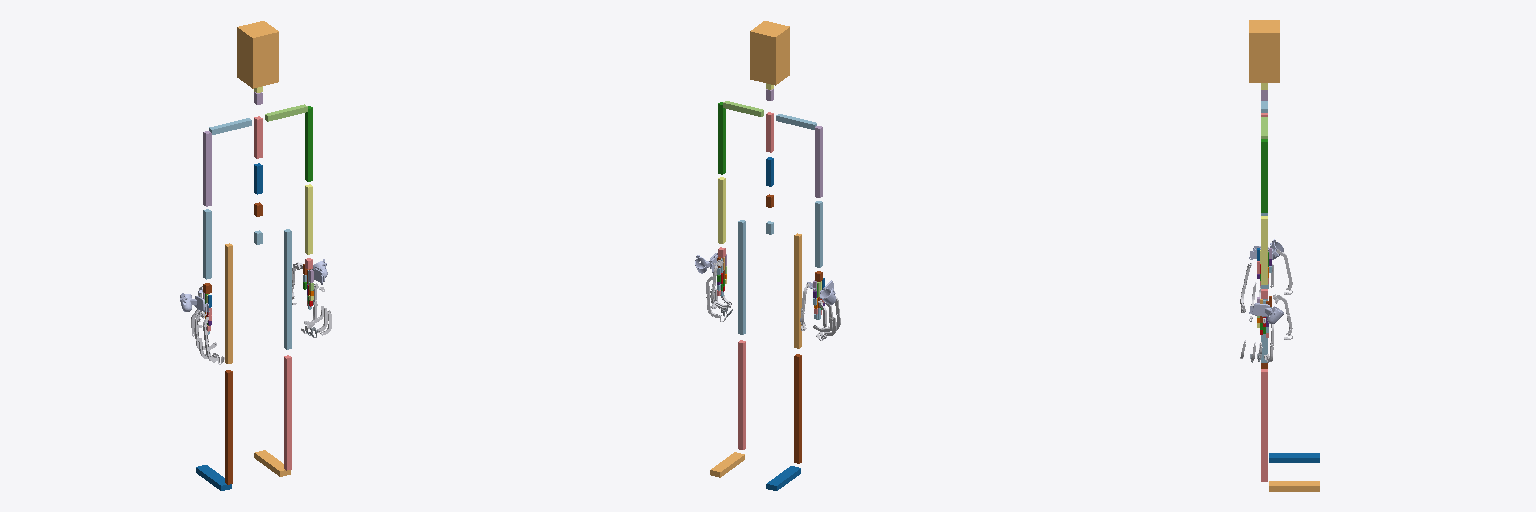
--- Facts derived from the render (not from the file) ---
Views: 3 orthographic renders of the robot side by side, from view 1: azimuth 30°, elevation 25°; view 2: azimuth 150°, elevation 25°; view 3: azimuth 270°, elevation 25°.
Model converted with 239 links and 238 joints (220 revolute, 18 fixed), rooted at base_link, posed every joint at zero.
Visible links, largest first — view 1: link_Head_Y, link_LeftUpLeg_Y, link_RightUpLeg_Y, link_RightLeg_Y, link_LeftLeg_Y, link_LeftArm_Y, link_LeftForeArm_Y, link_RightArm_Y, link_RightForeArm_Y; view 2: link_Head_Y, link_RightUpLeg_Y, link_LeftUpLeg_Y, link_RightLeg_Y, link_LeftLeg_Y, link_LeftArm_Y, link_RightArm_Y, link_LeftForeArm_Y, link_RightForeArm_Y; view 3: link_Head_Y, link_RightLeg_Y, link_RightFoot_Y.
Boxes of the visible links, x1,y1,x2,y2 form: link_Head_Y: [237, 21, 278, 88]; link_LeftUpLeg_Y: [225, 243, 232, 363]; link_RightUpLeg_Y: [284, 229, 291, 349]; link_RightLeg_Y: [284, 355, 291, 470]; link_LeftLeg_Y: [225, 370, 232, 484]; link_LeftArm_Y: [203, 131, 211, 206]; link_LeftForeArm_Y: [203, 209, 211, 279]; link_RightArm_Y: [305, 106, 312, 181]; link_RightForeArm_Y: [305, 184, 312, 254]; link_Head_Y: [750, 21, 789, 85]; link_RightUpLeg_Y: [738, 220, 745, 334]; link_LeftUpLeg_Y: [794, 233, 801, 348]; link_RightLeg_Y: [738, 340, 745, 449]; link_LeftLeg_Y: [794, 354, 801, 463]; link_LeftArm_Y: [815, 126, 822, 197]; link_RightArm_Y: [718, 102, 725, 174]; link_LeftForeArm_Y: [815, 201, 822, 267]; link_RightForeArm_Y: [718, 177, 725, 243]; link_Head_Y: [1249, 20, 1279, 82]; link_RightLeg_Y: [1261, 369, 1267, 481]; link_RightFoot_Y: [1269, 481, 1319, 491].
Bounding box of the posed robot: 0.5471 × 0.2608 × 1.63 m (x, y, z).
Meshes: 46 distinct files referenced, 34 mesh visuals loaded (34 binary STL); not drawn: 12 (reference not matched to a file when rendering).

URDF robot description (converted):
<?xml version='1.0' encoding='utf-8'?>
<robot name="converted">
    
    <link name="base_link" />
    <link name="link_Hips_R" />
    <link name="link_Hips_P" />
    <link name="link_Hips_Y">
        <inertia ixx="1.0" ixy="0.0" ixz="0.0" iyy="1.0" iyz="0.0" izz="1.0" />
        <mass value="5.000000" />
        <visual>
            <origin rpy="0 0 0" xyz="0 0 0" />
            <geometry>
                <box size="0.02 0.02 0.04" />
            </geometry>
            <material name="mat_col_(0.6509803921568628, 0.807843137254902, 0.8901960784313725)">
                <color rgba="0.65 0.81 0.89 1.0" />
            </material>
        </visual>
    </link>
    <link name="link_RightUpLeg_R" />
    <link name="link_RightUpLeg_P" />
    <link name="link_RightUpLeg_Y">
        <inertia ixx="1.0" ixy="0.0" ixz="0.0" iyy="1.0" iyz="0.0" izz="1.0" />
        <mass value="5.000000" />
        <visual>
            <origin rpy="0 0 0" xyz="0 0 -0.21" />
            <geometry>
                <box size="0.02 0.02 0.42" />
            </geometry>
            <material name="mat_col_(0.6509803921568628, 0.807843137254902, 0.8901960784313725)">
                <color rgba="0.65 0.81 0.89 1.0" />
            </material>
        </visual>
    </link>
    <link name="link_RightLeg_R" />
    <link name="link_RightLeg_P" />
    <link name="link_RightLeg_Y">
        <inertia ixx="1.0" ixy="0.0" ixz="0.0" iyy="1.0" iyz="0.0" izz="1.0" />
        <mass value="5.000000" />
        <visual>
            <origin rpy="0 0 0" xyz="0 0 -0.2" />
            <geometry>
                <box size="0.02 0.02 0.4" />
            </geometry>
            <material name="mat_col_(0.984313725490196, 0.6039215686274509, 0.6)">
                <color rgba="0.98 0.60 0.60 1.0" />
            </material>
        </visual>
    </link>
    <link name="link_RightFoot_R" />
    <link name="link_RightFoot_P" />
    <link name="link_RightFoot_Y">
        <inertia ixx="1.0" ixy="0.0" ixz="0.0" iyy="1.0" iyz="0.0" izz="1.0" />
        <mass value="5.000000" />
        <visual>
            <origin rpy="0 0 0" xyz="0 0.0978897124528885 0" />
            <geometry>
                <box size="0.04 0.16677506566047667 0.02" />
            </geometry>
            <material name="mat_col_(0.9921568627450981, 0.7490196078431373, 0.43529411764705883)">
                <color rgba="0.99 0.75 0.44 1.0" />
            </material>
        </visual>
    </link>
    <link name="link_LeftUpLeg_R" />
    <link name="link_LeftUpLeg_P" />
    <link name="link_LeftUpLeg_Y">
        <inertia ixx="1.0" ixy="0.0" ixz="0.0" iyy="1.0" iyz="0.0" izz="1.0" />
        <mass value="5.000000" />
        <visual>
            <origin rpy="0 0 0" xyz="0 0 -0.21" />
            <geometry>
                <box size="0.02 0.02 0.42" />
            </geometry>
            <material name="mat_col_(0.9921568627450981, 0.7490196078431373, 0.43529411764705883)">
                <color rgba="0.99 0.75 0.44 1.0" />
            </material>
        </visual>
    </link>
    <link name="link_LeftLeg_R" />
    <link name="link_LeftLeg_P" />
    <link name="link_LeftLeg_Y">
        <inertia ixx="1.0" ixy="0.0" ixz="0.0" iyy="1.0" iyz="0.0" izz="1.0" />
        <mass value="5.000000" />
        <visual>
            <origin rpy="0 0 0" xyz="0 0 -0.2" />
            <geometry>
                <box size="0.02 0.02 0.4" />
            </geometry>
            <material name="mat_col_(0.6941176470588235, 0.34901960784313724, 0.1568627450980392)">
                <color rgba="0.69 0.35 0.16 1.0" />
            </material>
        </visual>
    </link>
    <link name="link_LeftFoot_R" />
    <link name="link_LeftFoot_P" />
    <link name="link_LeftFoot_Y">
        <inertia ixx="1.0" ixy="0.0" ixz="0.0" iyy="1.0" iyz="0.0" izz="1.0" />
        <mass value="5.000000" />
        <visual>
            <origin rpy="0 0 0" xyz="0 0.0978897124528885 0" />
            <geometry>
                <box size="0.04 0.16677506566047667 0.02" />
            </geometry>
            <material name="mat_col_(0.12156862745098039, 0.47058823529411764, 0.7058823529411765)">
                <color rgba="0.12 0.47 0.71 1.0" />
            </material>
        </visual>
    </link>
    <link name="link_Spine_R" />
    <link name="link_Spine_P" />
    <link name="link_Spine_Y">
        <inertia ixx="1.0" ixy="0.0" ixz="0.0" iyy="1.0" iyz="0.0" izz="1.0" />
        <mass value="5.000000" />
        <visual>
            <origin rpy="0 0 0" xyz="0 0 0.02" />
            <geometry>
                <box size="0.02 0.02 0.04" />
            </geometry>
            <material name="mat_col_(0.6941176470588235, 0.34901960784313724, 0.1568627450980392)">
                <color rgba="0.69 0.35 0.16 1.0" />
            </material>
        </visual>
    </link>
    <link name="link_Spine1_R" />
    <link name="link_Spine1_P" />
    <link name="link_Spine1_Y">
        <inertia ixx="1.0" ixy="0.0" ixz="0.0" iyy="1.0" iyz="0.0" izz="1.0" />
        <mass value="5.000000" />
        <visual>
            <origin rpy="0 0 0" xyz="0 0 0.05" />
            <geometry>
                <box size="0.02 0.02 0.10" />
            </geometry>
            <material name="mat_col_(0.12156862745098039, 0.47058823529411764, 0.7058823529411765)">
                <color rgba="0.12 0.47 0.71 1.0" />
            </material>
        </visual>
    </link>
    <link name="link_Spine2_R" />
    <link name="link_Spine2_P" />
    <link name="link_Spine2_Y">
        <inertia ixx="1.0" ixy="0.0" ixz="0.0" iyy="1.0" iyz="0.0" izz="1.0" />
        <mass value="5.000000" />
        <visual>
            <origin rpy="0 0 0" xyz="0 0 0.07" />
            <geometry>
                <box size="0.02 0.02 0.14" />
            </geometry>
            <material name="mat_col_(0.984313725490196, 0.6039215686274509, 0.6)">
                <color rgba="0.98 0.60 0.60 1.0" />
            </material>
        </visual>
    </link>
    <link name="link_Neck_R" />
    <link name="link_Neck_P" />
    <link name="link_Neck_Y">
        <inertia ixx="1.0" ixy="0.0" ixz="0.0" iyy="1.0" iyz="0.0" izz="1.0" />
        <mass value="5.000000" />
        <visual>
            <origin rpy="0 0 0" xyz="0 0 0.02" />
            <geometry>
                <box size="0.02 0.02 0.04" />
            </geometry>
            <material name="mat_col_(0.792156862745098, 0.6980392156862745, 0.8392156862745098)">
                <color rgba="0.79 0.70 0.84 1.0" />
            </material>
        </visual>
    </link>
    <link name="link_Neck1_R" />
    <link name="link_Neck1_P" />
    <link name="link_Neck1_Y">
        <inertia ixx="1.0" ixy="0.0" ixz="0.0" iyy="1.0" iyz="0.0" izz="1.0" />
        <mass value="5.000000" />
        <visual>
            <origin rpy="0 0 0" xyz="0 0 0.02" />
            <geometry>
                <box size="0.02 0.02 0.04" />
            </geometry>
            <material name="mat_col_(1.0, 1.0, 0.6)">
                <color rgba="1.00 1.00 0.60 1.0" />
            </material>
        </visual>
    </link>
    <link name="link_Head_R" />
    <link name="link_Head_P" />
    <link name="link_Head_Y">
        <inertia ixx="1.0" ixy="0.0" ixz="0.0" iyy="1.0" iyz="0.0" izz="1.0" />
        <mass value="5.000000" />
        <visual>
            <origin rpy="0 0 0" xyz="0 0 0.09" />
            <geometry>
                <box size="0.10 0.10 0.18" />
            </geometry>
            <material name="mat_col_(0.9921568627450981, 0.7490196078431373, 0.43529411764705883)">
                <color rgba="0.99 0.75 0.44 1.0" />
            </material>
        </visual>
    </link>
    <link name="link_RightShoulder_R" />
    <link name="link_RightShoulder_P" />
    <link name="link_RightShoulder_Y">
        <inertia ixx="1.0" ixy="0.0" ixz="0.0" iyy="1.0" iyz="0.0" izz="1.0" />
        <mass value="5.000000" />
        <visual>
            <origin rpy="0 0 0" xyz="0.075 0  0" />
            <geometry>
                <box size="0.15 0.02 0.02" />
            </geometry>
            <material name="mat_col_(0.6980392156862745, 0.8745098039215686, 0.5411764705882353)">
                <color rgba="0.70 0.87 0.54 1.0" />
            </material>
        </visual>
    </link>
    <link name="link_RightArm_R" />
    <link name="link_RightArm_P" />
    <link name="link_RightArm_Y">
        <inertia ixx="1.0" ixy="0.0" ixz="0.0" iyy="1.0" iyz="0.0" izz="1.0" />
        <mass value="5.000000" />
        <visual>
            <origin rpy="0 0 0" xyz="0 0 -0.13" />
            <geometry>
                <box size="0.02 0.02 0.26" />
            </geometry>
            <material name="mat_col_(0.2, 0.6274509803921569, 0.17254901960784313)">
                <color rgba="0.20 0.63 0.17 1.0" />
            </material>
        </visual>
    </link>
    <link name="link_RightForeArm_R" />
    <link name="link_RightForeArm_P" />
    <link name="link_RightForeArm_Y">
        <inertia ixx="1.0" ixy="0.0" ixz="0.0" iyy="1.0" iyz="0.0" izz="1.0" />
        <mass value="5.000000" />
        <visual>
            <origin rpy="0 0 0" xyz="0 0 -0.12" />
            <geometry>
                <box size="0.02 0.02 0.24" />
            </geometry>
            <material name="mat_col_(1.0, 1.0, 0.6)">
                <color rgba="1.00 1.00 0.60 1.0" />
            </material>
        </visual>
    </link>
    <link name="link_RightHand_R" />
    <link name="link_RightHand_P" />
    <link name="link_RightHand_Y">
        <inertia ixx="1.0" ixy="0.0" ixz="0.0" iyy="1.0" iyz="0.0" izz="1.0" />
        <mass value="5.000000" />
        <visual>
            <origin rpy="0 0 0" xyz="0 0 -0.017634012177586554" />
            <geometry>
                <box size="0.02 0.02 0.030043131858110427" />
            </geometry>
            <material name="mat_col_(0.984313725490196, 0.6039215686274509, 0.6)">
                <color rgba="0.98 0.60 0.60 1.0" />
            </material>
        </visual>
    </link>
    <link name="link_RightHandThumb1_R" />
    <link name="link_RightHandThumb1_P" />
    <link name="link_RightHandThumb1_Y">
        <inertia ixx="1.0" ixy="0.0" ixz="0.0" iyy="1.0" iyz="0.0" izz="1.0" />
        <mass value="5.000000" />
        <visual>
            <origin rpy="0 0 0" xyz="0 0 -0.02090881034731865" />
            <geometry>
                <box size="0.01 0.01 0.035622417628765106" />
            </geometry>
            <material name="mat_col_(0.6941176470588235, 0.34901960784313724, 0.1568627450980392)">
                <color rgba="0.69 0.35 0.16 1.0" />
            </material>
        </visual>
    </link>
    <link name="link_RightHandThumb2_R" />
    <link name="link_RightHandThumb2_P" />
    <link name="link_RightHandThumb2_Y">
        <inertia ixx="1.0" ixy="0.0" ixz="0.0" iyy="1.0" iyz="0.0" izz="1.0" />
        <mass value="5.000000" />
        <visual>
            <origin rpy="0 0 0" xyz="0 0 -0.014525998458266258" />
            <geometry>
                <box size="0.01 0.01 0.024747997373342514" />
            </geometry>
            <material name="mat_col_(0.6509803921568628, 0.807843137254902, 0.8901960784313725)">
                <color rgba="0.65 0.81 0.89 1.0" />
            </material>
        </visual>
    </link>
    <link name="link_RightHandThumb3_R" />
    <link name="link_RightHandThumb3_P" />
    <link name="link_RightHandThumb3_Y">
        <inertia ixx="1.0" ixy="0.0" ixz="0.0" iyy="1.0" iyz="0.0" izz="1.0" />
        <mass value="5.000000" />
        <visual>
            <origin rpy="0 0 0" xyz="0 0 -0.013699802979826927" />
            <geometry>
                <box size="0.01 0.01 0.023340405076742173" />
            </geometry>
            <material name="mat_col_(0.2, 0.6274509803921569, 0.17254901960784313)">
                <color rgba="0.20 0.63 0.17 1.0" />
            </material>
        </visual>
    </link>
    <link name="link_RightInHandIndex_R" />
    <link name="link_RightInHandIndex_P" />
    <link name="link_RightInHandIndex_Y">
        <inertia ixx="1.0" ixy="0.0" ixz="0.0" iyy="1.0" iyz="0.0" izz="1.0" />
        <mass value="5.000000" />
        <visual>
            <origin rpy="0 0 0" xyz="0 0 -0.030162290632724763" />
            <geometry>
                <box size="0.01 0.01 0.051387606263160704" />
            </geometry>
            <material name="mat_col_(0.6941176470588235, 0.34901960784313724, 0.1568627450980392)">
                <color rgba="0.69 0.35 0.16 1.0" />
            </material>
        </visual>
    </link>
    <link name="link_RightHandIndex1_R" />
    <link name="link_RightHandIndex1_P" />
    <link name="link_RightHandIndex1_Y">
        <inertia ixx="1.0" ixy="0.0" ixz="0.0" iyy="1.0" iyz="0.0" izz="1.0" />
        <mass value="5.000000" />
        <visual>
            <origin rpy="0 0 0" xyz="0 0 -0.020552407130599023" />
            <geometry>
                <box size="0.01 0.01 0.03501521214842796" />
            </geometry>
            <material name="mat_col_(0.41568627450980394, 0.23921568627450981, 0.6039215686274509)">
                <color rgba="0.42 0.24 0.60 1.0" />
            </material>
        </visual>
    </link>
    <link name="link_RightHandIndex2_R" />
    <link name="link_RightHandIndex2_P" />
    <link name="link_RightHandIndex2_Y">
        <inertia ixx="1.0" ixy="0.0" ixz="0.0" iyy="1.0" iyz="0.0" izz="1.0" />
        <mass value="5.000000" />
        <visual>
            <origin rpy="0 0 0" xyz="0 0 -0.011653190664947032" />
            <geometry>
                <box size="0.01 0.01 0.019853584095835687" />
            </geometry>
            <material name="mat_col_(0.6509803921568628, 0.807843137254902, 0.8901960784313725)">
                <color rgba="0.65 0.81 0.89 1.0" />
            </material>
        </visual>
    </link>
    <link name="link_RightHandIndex3_R" />
    <link name="link_RightHandIndex3_P" />
    <link name="link_RightHandIndex3_Y">
        <inertia ixx="1.0" ixy="0.0" ixz="0.0" iyy="1.0" iyz="0.0" izz="1.0" />
        <mass value="5.000000" />
        <visual>
            <origin rpy="0 0 0" xyz="0 0 -0.010249215178191662" />
            <geometry>
                <box size="0.01 0.01 0.01746162585914135" />
            </geometry>
            <material name="mat_col_(0.984313725490196, 0.6039215686274509, 0.6)">
                <color rgba="0.98 0.60 0.60 1.0" />
            </material>
        </visual>
    </link>
    <link name="link_RightInHandMiddle_R" />
    <link name="link_RightInHandMiddle_P" />
    <link name="link_RightInHandMiddle_Y">
        <inertia ixx="1.0" ixy="0.0" ixz="0.0" iyy="1.0" iyz="0.0" izz="1.0" />
        <mass value="5.000000" />
        <visual>
            <origin rpy="0 0 0" xyz="0 0 -0.02943922273814678" />
            <geometry>
                <box size="0.01 0.01 0.050155712813138964" />
            </geometry>
            <material name="mat_col_(0.6509803921568628, 0.807843137254902, 0.8901960784313725)">
                <color rgba="0.65 0.81 0.89 1.0" />
            </material>
        </visual>
    </link>
    <link name="link_RightHandMiddle1_R" />
    <link name="link_RightHandMiddle1_P" />
    <link name="link_RightHandMiddle1_Y">
        <inertia ixx="1.0" ixy="0.0" ixz="0.0" iyy="1.0" iyz="0.0" izz="1.0" />
        <mass value="5.000000" />
        <visual>
            <origin rpy="0 0 0" xyz="0 0 -0.022426203042268753" />
            <geometry>
                <box size="0.01 0.01 0.03820760518312454" />
            </geometry>
            <material name="mat_col_(0.8901960784313725, 0.10196078431372549, 0.10980392156862745)">
                <color rgba="0.89 0.10 0.11 1.0" />
            </material>
        </visual>
    </link>
    <link name="link_RightHandMiddle2_R" />
    <link name="link_RightHandMiddle2_P" />
    <link name="link_RightHandMiddle2_Y">
        <inertia ixx="1.0" ixy="0.0" ixz="0.0" iyy="1.0" iyz="0.0" izz="1.0" />
        <mass value="5.000000" />
        <visual>
            <origin rpy="0 0 0" xyz="0 0 -0.014056202173233032" />
            <geometry>
                <box size="0.01 0.01 0.023947603702545166" />
            </geometry>
            <material name="mat_col_(0.2, 0.6274509803921569, 0.17254901960784313)">
                <color rgba="0.20 0.63 0.17 1.0" />
            </material>
        </visual>
    </link>
    <link name="link_RightHandMiddle3_R" />
    <link name="link_RightHandMiddle3_P" />
    <link name="link_RightHandMiddle3_Y">
        <inertia ixx="1.0" ixy="0.0" ixz="0.0" iyy="1.0" iyz="0.0" izz="1.0" />
        <mass value="5.000000" />
        <visual>
            <origin rpy="0 0 0" xyz="0 0 -0.011210399866104125" />
            <geometry>
                <box size="0.01 0.01 0.019099199771881105" />
            </geometry>
            <material name="mat_col_(0.6509803921568628, 0.807843137254902, 0.8901960784313725)">
                <color rgba="0.65 0.81 0.89 1.0" />
            </material>
        </visual>
    </link>
    <link name="link_RightInHandRing_R" />
    <link name="link_RightInHandRing_P" />
    <link name="link_RightInHandRing_Y">
        <inertia ixx="1.0" ixy="0.0" ixz="0.0" iyy="1.0" iyz="0.0" izz="1.0" />
        <mass value="5.000000" />
        <visual>
            <origin rpy="0 0 0" xyz="0 0 -0.026454875618219374" />
            <geometry>
                <box size="0.01 0.01 0.04507126957178116" />
            </geometry>
            <material name="mat_col_(0.9921568627450981, 0.7490196078431373, 0.43529411764705883)">
                <color rgba="0.99 0.75 0.44 1.0" />
            </material>
        </visual>
    </link>
    <link name="link_RightHandRing1_R" />
    <link name="link_RightHandRing1_P" />
    <link name="link_RightHandRing1_Y">
        <inertia ixx="1.0" ixy="0.0" ixz="0.0" iyy="1.0" iyz="0.0" izz="1.0" />
        <mass value="5.000000" />
        <visual>
            <origin rpy="0 0 0" xyz="0 0 -0.019542589634656906" />
            <geometry>
                <box size="0.01 0.01 0.03329478234052658" />
            </geometry>
            <material name="mat_col_(0.6941176470588235, 0.34901960784313724, 0.1568627450980392)">
                <color rgba="0.69 0.35 0.16 1.0" />
            </material>
        </visual>
    </link>
    <link name="link_RightHandRing2_R" />
    <link name="link_RightHandRing2_P" />
    <link name="link_RightHandRing2_Y">
        <inertia ixx="1.0" ixy="0.0" ixz="0.0" iyy="1.0" iyz="0.0" izz="1.0" />
        <mass value="5.000000" />
        <visual>
            <origin rpy="0 0 0" xyz="0 0 -0.01355940341949463" />
            <geometry>
                <box size="0.01 0.01 0.023101205825805663" />
            </geometry>
            <material name="mat_col_(0.2, 0.6274509803921569, 0.17254901960784313)">
                <color rgba="0.20 0.63 0.17 1.0" />
            </material>
        </visual>
    </link>
    <link name="link_RightHandRing3_R" />
    <link name="link_RightHandRing3_P" />
    <link name="link_RightHandRing3_Y">
        <inertia ixx="1.0" ixy="0.0" ixz="0.0" iyy="1.0" iyz="0.0" izz="1.0" />
        <mass value="5.000000" />
        <visual>
            <origin rpy="0 0 0" xyz="0 0 -0.010540791749954224" />
            <geometry>
                <box size="0.01 0.01 0.017958385944366453" />
            </geometry>
            <material name="mat_col_(0.8901960784313725, 0.10196078431372549, 0.10980392156862745)">
                <color rgba="0.89 0.10 0.11 1.0" />
            </material>
        </visual>
    </link>
    <link name="link_RightInHandPinky_R" />
    <link name="link_RightInHandPinky_P" />
    <link name="link_RightInHandPinky_Y">
        <inertia ixx="1.0" ixy="0.0" ixz="0.0" iyy="1.0" iyz="0.0" izz="1.0" />
        <mass value="5.000000" />
        <visual>
            <origin rpy="0 0 0" xyz="0 0 -0.024314074516296386" />
            <geometry>
                <box size="0.01 0.01 0.041423978805541994" />
            </geometry>
            <material name="mat_col_(0.792156862745098, 0.6980392156862745, 0.8392156862745098)">
                <color rgba="0.79 0.70 0.84 1.0" />
            </material>
        </visual>
    </link>
    <link name="link_RightHandPinky1_R" />
    <link name="link_RightHandPinky1_P" />
    <link name="link_RightHandPinky1_Y">
        <inertia ixx="1.0" ixy="0.0" ixz="0.0" iyy="1.0" iyz="0.0" izz="1.0" />
        <mass value="5.000000" />
        <visual>
            <origin rpy="0 0 0" xyz="0 0 -0.015649211034178732" />
            <geometry>
                <box size="0.01 0.01 0.026661618798971175" />
            </geometry>
            <material name="mat_col_(0.6980392156862745, 0.8745098039215686, 0.5411764705882353)">
                <color rgba="0.70 0.87 0.54 1.0" />
            </material>
        </visual>
    </link>
    <link name="link_RightHandPinky2_R" />
    <link name="link_RightHandPinky2_P" />
    <link name="link_RightHandPinky2_Y">
        <inertia ixx="1.0" ixy="0.0" ixz="0.0" iyy="1.0" iyz="0.0" izz="1.0" />
        <mass value="5.000000" />
        <visual>
            <origin rpy="0 0 0" xyz="0 0 -0.009887406639754771" />
            <geometry>
                <box size="0.01 0.01 0.0168452113121748" />
            </geometry>
            <material name="mat_col_(1.0, 0.4980392156862745, 0.0)">
                <color rgba="1.00 0.50 0.00 1.0" />
            </material>
        </visual>
    </link>
    <link name="link_RightHandPinky3_R" />
    <link name="link_RightHandPinky3_P" />
    <link name="link_RightHandPinky3_Y">
        <inertia ixx="1.0" ixy="0.0" ixz="0.0" iyy="1.0" iyz="0.0" izz="1.0" />
        <mass value="5.000000" />
        <visual>
            <origin rpy="0 0 0" xyz="0 0 -0.009342006258666515" />
            <geometry>
                <box size="0.01 0.01 0.015916010662913323" />
            </geometry>
            <material name="mat_col_(1.0, 1.0, 0.6)">
                <color rgba="1.00 1.00 0.60 1.0" />
            </material>
        </visual>
    </link>
    
    <!-- <link name="link_RightMarker">
        <visual>
        <origin xyz="0 0 0" rpy="0 0 0" />
        <geometry>
            <mesh filename="package://io_mocap/description/meshes/v2/R_markseat.STL" />
        </geometry>
        <material name="">
            <color rgba="0.792156862745098 0.819607843137255 0.933333333333333 1" />
        </material>
        </visual>
        <collision>
        <origin xyz="0 0 0" rpy="0 0 0" />
        <geometry>
            <mesh filename="package://io_mocap/description/meshes/v2/R_markseat.STL" />
        </geometry>
        </collision>
    <inertial>
      <origin xyz="0.00294203633534093 1.08765640938202E-09 -0.00737738070930406" rpy="0 0 0" />
      <mass value="0.0154177032704756" />
      <inertia ixx="5.71644078153603E-06" ixy="-1.51036310362041E-12" ixz="3.68081022115817E-08" iyy="2.68588112925329E-06" iyz="3.37822884865295E-14" izz="8.26174791000107E-06" />
    </inertial>
    </link> -->
    <link name="link_RightSkeletonBase">
        <visual>
        <origin xyz="0 0 0" rpy="0 0 0" />
        <geometry>
            <mesh filename="package://io_mocap/description/meshes/v2/R_base_link.STL" />
        </geometry>
        <material name="">
            <color rgba="0.866666666666667 0.866666666666667 0.890196078431372 1" />
        </material>
        </visual>
        <collision>
        <origin xyz="0 0 0" rpy="0 0 0" />
        <geometry>
            <mesh filename="package://io_mocap/description/meshes/v2/R_base_link.STL" />
        </geometry>
        </collision>
    <inertial>
      <origin xyz="0.00770995118666973 -0.018764187876292 -0.00976493044853828" rpy="0 0 0" />
      <mass value="0.0710882631261556" />
      <inertia ixx="2.06062664560595E-05" ixy="1.1318401537956E-06" ixz="3.38565490949157E-07" iyy="3.72367166017E-05" iyz="-1.50938484066291E-06" izz="5.5970516689954E-05" />
    </inertial>
    </link>
    <link name="link_RightSkeletonThumbBase">
        <visual>
        <origin xyz="0 0 0" rpy="0 0 0" />
        <geometry>
            <mesh filename="package://io_mocap/description/meshes/v2/R_figer1base.STL" />
        </geometry>
        <material name="">
            <color rgba="0.866666666666667 0.866666666666667 0.890196078431372 1" />
        </material>
        </visual>
        <collision>
        <origin xyz="0 0 0" rpy="0 0 0" />
        <geometry>
            <mesh filename="package://io_mocap/description/meshes/v2/R_figer1base.STL" />
        </geometry>
        </collision>
    <inertial>
      <origin xyz="-0.0016156628105089 0.0568447182837606 -0.017116379059616" rpy="0 0 0" />
      <mass value="0.117950008013029" />
      <inertia ixx="5.0767300231652E-05" ixy="1.17969156802677E-05" ixz="-2.58903837087812E-06" iyy="4.89103576326975E-05" iyz="1.03778271488673E-05" izz="9.29348844610805E-05" />
    </inertial>
    </link>
    <link name="link_RightSkeletonThumb1">
        <visual>
        <origin xyz="0 0 0" rpy="0 0 0" />
        <geometry>
            <mesh filename="package://io_mocap/description/meshes/v2/R_figer1_1.STL" />
        </geometry>
        <material name="">
            <color rgba="0.866666666666667 0.866666666666667 0.890196078431372 1" />
        </material>
        </visual>
        <collision>
        <origin xyz="0 0 0" rpy="0 0 0" />
        <geometry>
            <mesh filename="package://io_mocap/description/meshes/v2/R_figer1_1.STL" />
        </geometry>
        </collision>
    <inertial>
      <origin xyz="0.000360812813613477 0.00151318250531396 0.00378462252953857" rpy="0 0 0" />
      <mass value="0.00101710748996665" />
      <inertia ixx="3.60359300821446E-08" ixy="6.90096581804603E-10" ixz="-3.18067595259438E-10" iyy="2.52489392657119E-08" iyz="-5.5674802048732E-09" izz="2.14911213505005E-08" />
    </inertial>
    </link>
    <link name="link_RightSkeletonThumb2">
        <visual>
        <origin xyz="0 0 0" rpy="0 0 0" />
        <geometry>
            <mesh filename="package://io_mocap/description/meshes/v2/R_figer1_2.STL" />
        </geometry>
        <material name="">
            <color rgba="0.866666666666667 0.866666666666667 0.890196078431372 1" />
        </material>
        </visual>
        <collision>
        <origin xyz="0 0 0" rpy="0 0 0" />
        <geometry>
            <mesh filename="package://io_mocap/description/meshes/v2/R_figer1_2.STL" />
        </geometry>
        </collision>
    <inertial>
      <origin xyz="-0.0019746725426226 0.0178857182733868 0.0339027045639201" rpy="0 0 0" />
      <mass value="0.00826129582139841" />
      <inertia ixx="4.4887452981934E-06" ixy="8.02828382516879E-09" ixz="1.14562196842765E-08" iyy="2.51339622115208E-06" iyz="-2.10825070458165E-06" izz="2.0484342538147E-06" />
    </inertial>
    </link>
    <link name="link_RightSkeletonThumb3">
        <visual>
        <origin xyz="0 0 0" rpy="0 0 0" />
        <geometry>
            <mesh filename="package://io_mocap/description/meshes/v2/R_figer1_3.STL" />
        </geometry>
        <material name="">
            <color rgba="0.866666666666667 0.866666666666667 0.890196078431372 1" />
        </material>
        </visual>
        <collision>
        <origin xyz="0 0 0" rpy="0 0 0" />
        <geometry>
            <mesh filename="package://io_mocap/description/meshes/v2/R_figer1_3.STL" />
        </geometry>
        </collision>
    <inertial>
      <origin xyz="-0.00196858571107592 0.00102017391560513 0.0221861693119163" rpy="0 0 0" />
      <mass value="0.0085937407191672" />
      <inertia ixx="1.4400096911182E-06" ixy="2.2090219935847E-09" ixz="1.56435418494777E-08" iyy="1.36265837147501E-06" iyz="-1.58829636765945E-07" izz="1.5322278140942E-07" />
    </inertial>
    </link>
    <link name="link_RightSkeletonThumb4">
        <visual>
        <origin xyz="0 0 0" rpy="0 0 0" />
        <geometry>
            <mesh filename="package://io_mocap/description/meshes/v2/R_figer1_4.STL" />
        </geometry>
        <material name="">
            <color rgba="0.866666666666667 0.866666666666667 0.890196078431372 1" />
        </material>
        </visual>
        <collision>
        <origin xyz="0 0 0" rpy="0 0 0" />
        <geometry>
            <mesh filename="package://io_mocap/description/meshes/v2/R_figer1_4.STL" />
        </geometry>
        </collision>
    <inertial>
      <origin xyz="-0.00223078797342495 0.0014608588025924 -0.0120042466244931" rpy="0 0 0" />
      <mass value="0.0028545054907341" />
      <inertia ixx="2.69098784556892E-07" ixy="8.6233630603655E-10" ixz="-6.0453731547879E-09" iyy="2.30246426309334E-07" iyz="-6.59792224181597E-10" izz="9.93674279360164E-08" />
    </inertial>
    </link>
    <link name="link_RightSkeletonIndex1">
        <visual>
        <origin xyz="0 0 0" rpy="0 0 0" />
        <geometry>
            <mesh filename="package://io_mocap/description/meshes/v2/R_figer2_1.STL" />
        </geometry>
        <material name="">
            <color rgba="0.866666666666667 0.866666666666667 0.890196078431372 1" />
        </material>
        </visual>
        <collision>
        <origin xyz="0 0 0" rpy="0 0 0" />
        <geometry>
            <mesh filename="package://io_mocap/description/meshes/v2/R_figer2_1.STL" />
        </geometry>
        </collision>
    <inertial>
      <origin xyz="0.000360812813613443 0.00151318250531394 0.00378462252953856" rpy="0 0 0" />
      <mass value="0.00101710748996665" />
      <inertia ixx="3.60359300821445E-08" ixy="6.90096581804598E-10" ixz="-3.18067595259427E-10" iyy="2.52489392657118E-08" iyz="-5.56748020487315E-09" izz="2.14911213505004E-08" />
    </inertial>
    </link>
    <link name="link_RightSkeletonIndex2">
        <visual>
        <origin xyz="0 0 0" rpy="0 0 0" />
        <geometry>
            <mesh filename="package://io_mocap/description/meshes/v2/R_figer2_2.STL" />
        </geometry>
        <material name="">
            <color rgba="0.866666666666667 0.866666666666667 0.890196078431372 1" />
        </material>
        </visual>
        <collision>
        <origin xyz="0 0 0" rpy="0 0 0" />
        <geometry>
            <mesh filename="package://io_mocap/description/meshes/v2/R_figer2_2.STL" />
        </geometry>
        </collision>
    <inertial>
      <origin xyz="-0.00197167382396377 0.0148371082660094 0.0306263940066096" rpy="0 0 0" />
      <mass value="0.00743717502619359" />
      <inertia ixx="3.20369246654307E-06" ixy="6.91551054185341E-09" ixz="1.03928624860866E-08" iyy="1.85751925541628E-06" iyz="-1.47357652364543E-06" izz="1.41160211665825E-06" />
    </inertial>
    </link>
    <link name="link_RightSkeletonIndex3">
        <visual>
        <origin xyz="0 0 0" rpy="0 0 0" />
        <geometry>
            <mesh filename="package://io_mocap/description/meshes/v2/R_figer2_3.STL" />
        </geometry>
        <material name="">
            <color rgba="0.866666666666667 0.866666666666667 0.890196078431372 1" />
        </material>
        </visual>
        <collision>
        <origin xyz="0 0 0" rpy="0 0 0" />
        <geometry>
            <mesh filename="package://io_mocap/description/meshes/v2/R_figer2_3.STL" />
        </geometry>
        </collision>
    <inertial>
      <origin xyz="-0.00198377389196411 0.00589676668933764 0.0394769263721164" rpy="0 0 0" />
      <mass value="0.0158610985851528" />
      <inertia ixx="7.84925825249994E-06" ixy="9.4681645108317E-09" ixz="2.44221104525154E-08" iyy="6.578539580998E-06" iyz="-2.11174091133848E-06" izz="1.41410633218028E-06" />
    </inertial>
    </link>
    <link name="link_RightSkeletonIndex4">
        <visual>
        <origin xyz="0 0 0" rpy="0 0 0" />
        <geometry>
            <mesh filename="package://io_mocap/description/meshes/v2/R_figer2_4.STL" />
        </geometry>
        <material name="">
            <color rgba="0.866666666666667 0.866666666666667 0.890196078431372 1" />
        </material>
        </visual>
        <collision>
        <origin xyz="0 0 0" rpy="0 0 0" />
        <geometry>
            <mesh filename="package://io_mocap/description/meshes/v2/R_figer2_4.STL" />
        </geometry>
        </collision>
    <inertial>
      <origin xyz="-0.00223080014530813 0.00146085214093783 -0.0120042692266658" rpy="0 0 0" />
      <mass value="0.00285451921524571" />
      <inertia ixx="2.69098587536862E-07" ixy="8.62420331442632E-10" ixz="-6.04563736195385E-09" iyy="2.30246459448886E-07" iyz="-6.59759466940429E-10" izz="9.9367529235195E-08" />
    </inertial>
    </link>
    <link name="link_RightSkeletonMiddle1">
        <visual>
        <origin xyz="0 0 0" rpy="0 0 0" />
        <geometry>
            <mesh filename="package://io_mocap/description/meshes/v2/R_figer3_1.STL" />
        </geometry>
        <material name="">
            <color rgba="0.866666666666667 0.866666666666667 0.890196078431372 1" />
        </material>
        </visual>
        <collision>
        <origin xyz="0 0 0" rpy="0 0 0" />
        <geometry>
            <mesh filename="package://io_mocap/description/meshes/v2/R_figer3_1.STL" />
        </geometry>
        </collision>
    <inertial>
      <origin xyz="0.000360812813613526 0.00151318250531395 0.00378462252953856" rpy="0 0 0" />
      <mass value="0.00101710748996666" />
      <inertia ixx="3.60359300821446E-08" ixy="6.9009658180459E-10" ixz="-3.18067595259436E-10" iyy="2.52489392657119E-08" iyz="-5.5674802048732E-09" izz="2.14911213505005E-08" />
    </inertial>
    </link>
    <link name="link_RightSkeletonMiddle2">
        <visual>
        <origin xyz="0 0 0" rpy="0 0 0" />
        <geometry>
            <mesh filename="package://io_mocap/description/meshes/v2/R_figer3_2.STL" />
        </geometry>
        <material name="">
            <color rgba="0.615686274509804 0.643137254901961 0.674509803921569 1" />
        </material>
        </visual>
        <collision>
        <origin xyz="0 0 0" rpy="0 0 0" />
        <geometry>
            <mesh filename="package://io_mocap/description/meshes/v2/R_figer3_2.STL" />
        </geometry>
        </collision>
    <inertial>
      <origin xyz="-0.00197167382396385 0.0148371082660094 0.0306263940066097" rpy="0 0 0" />
      <mass value="0.0074371750261936" />
      <inertia ixx="3.20369246654308E-06" ixy="6.91551054185367E-09" ixz="1.03928624860862E-08" iyy="1.85751925541628E-06" iyz="-1.47357652364544E-06" izz="1.41160211665826E-06" />
    </inertial>
    </link>
    <link name="link_RightSkeletonMiddle3">
        <visual>
        <origin xyz="0 0 0" rpy="0 0 0" />
        <geometry>
            <mesh filename="package://io_mocap/description/meshes/v2/R_figer3_3.STL" />
        </geometry>
        <material name="">
            <color rgba="0.866666666666667 0.866666666666667 0.890196078431372 1" />
        </material>
        </visual>
        <collision>
        <origin xyz="0 0 0" rpy="0 0 0" />
        <geometry>
            <mesh filename="package://io_mocap/description/meshes/v2/R_figer3_3.STL" />
        </geometry>
        </collision>
    <inertial>
      <origin xyz="-0.00198377389196416 0.00589676668933769 0.0394769263721165" rpy="0 0 0" />
      <mass value="0.0158610985851529" />
      <inertia ixx="7.84925825250001E-06" ixy="9.46816451083154E-09" ixz="2.44221104525169E-08" iyy="6.57853958099805E-06" iyz="-2.1117409113385E-06" izz="1.4141063321803E-06" />
    </inertial>
    </link>
    <link name="link_RightSkeletonMiddle4">
        <visual>
        <origin xyz="0 0 0" rpy="0 0 0" />
        <geometry>
            <mesh filename="package://io_mocap/description/meshes/v2/R_figer3_4.STL" />
        </geometry>
        <material name="">
            <color rgba="0.615686274509804 0.643137254901961 0.674509803921569 1" />
        </material>
        </visual>
        <collision>
        <origin xyz="0 0 0" rpy="0 0 0" />
        <geometry>
            <mesh filename="package://io_mocap/description/meshes/v2/R_figer3_4.STL" />
        </geometry>
        </collision>
    <inertial>
      <origin xyz="-0.00223079084740585 0.00146085425461903 -0.0120042496973233" rpy="0 0 0" />
      <mass value="0.00285451138566072" />
      <inertia ixx="2.69098813167318E-07" ixy="8.62304209464287E-10" ixz="-6.04550044188917E-09" iyy="2.30246140510458E-07" iyz="-6.59645452327445E-10" izz="9.93675874251592E-08" />
    </inertial>
    </link>
    <link name="link_RightSkeletonRing1">
        <visual>
        <origin xyz="0 0 0" rpy="0 0 0" />
        <geometry>
            <mesh filename="package://io_mocap/description/meshes/v2/R_figer4_1.STL" />
        </geometry>
        <material name="">
            <color rgba="0.866666666666667 0.866666666666667 0.890196078431372 1" />
        </material>
        </visual>
        <collision>
        <origin xyz="0 0 0" rpy="0 0 0" />
        <geometry>
            <mesh filename="package://io_mocap/description/meshes/v2/R_figer4_1.STL" />
        </geometry>
        </collision>
    <inertial>
      <origin xyz="0.000360812813613498 0.00151318250531393 0.00378462252953855" rpy="0 0 0" />
      <mass value="0.00101710748996665" />
      <inertia ixx="3.60359300821445E-08" ixy="6.90096581804628E-10" ixz="-3.18067595259419E-10" iyy="2.52489392657119E-08" iyz="-5.56748020487313E-09" izz="2.14911213505004E-08" />
    </inertial>
    </link>
    <link name="link_RightSkeletonRing2">
        <visual>
        <origin xyz="0 0 0" rpy="0 0 0" />
        <geometry>
            <mesh filename="package://io_mocap/description/meshes/v2/R_figer4_2.STL" />
        </geometry>
        <material name="">
            <color rgba="0.615686274509804 0.643137254901961 0.674509803921569 1" />
        </material>
        </visual>
        <collision>
        <origin xyz="0 0 0" rpy="0 0 0" />
        <geometry>
            <mesh filename="package://io_mocap/description/meshes/v2/R_figer4_2.STL" />
        </geometry>
        </collision>
    <inertial>
      <origin xyz="-0.00197167382396374 0.0148371082660094 0.0306263940066097" rpy="0 0 0" />
      <mass value="0.00743717502619358" />
      <inertia ixx="3.20369246654308E-06" ixy="6.91551054185361E-09" ixz="1.03928624860862E-08" iyy="1.85751925541628E-06" iyz="-1.47357652364543E-06" izz="1.41160211665825E-06" />
    </inertial>
    </link>
    <link name="link_RightSkeletonRing3">
        <visual>
        <origin xyz="0 0 0" rpy="0 0 0" />
        <geometry>
            <mesh filename="package://io_mocap/description/meshes/v2/R_figer4_3.STL" />
        </geometry>
        <material name="">
            <color rgba="0.866666666666667 0.866666666666667 0.890196078431372 1" />
        </material>
        </visual>
        <collision>
        <origin xyz="0 0 0" rpy="0 0 0" />
        <geometry>
            <mesh filename="package://io_mocap/description/meshes/v2/R_figer4_3.STL" />
        </geometry>
        </collision>
    <inertial>
      <origin xyz="-0.00198377389196419 0.00589676668933766 0.0394769263721164" rpy="0 0 0" />
      <mass value="0.0158610985851528" />
      <inertia ixx="7.84925825249996E-06" ixy="9.46816451083261E-09" ixz="2.44221104525169E-08" iyy="6.57853958099801E-06" iyz="-2.11174091133848E-06" izz="1.41410633218028E-06" />
    </inertial>
    </link>
    <link name="link_RightSkeletonRing4">
        <visual>
        <origin xyz="0 0 0" rpy="0 0 0" />
        <geometry>
            <mesh filename="package://io_mocap/description/meshes/v2/R_figer4_4.STL" />
        </geometry>
        <material name="">
            <color rgba="0.615686274509804 0.643137254901961 0.674509803921569 1" />
        </material>
        </visual>
        <collision>
        <origin xyz="0 0 0" rpy="0 0 0" />
        <geometry>
            <mesh filename="package://io_mocap/description/meshes/v2/R_figer4_4.STL" />
        </geometry>
        </collision>
    <inertial>
      <origin xyz="-0.00223079084740585 0.00146085425461903 -0.0120042496973234" rpy="0 0 0" />
      <mass value="0.00285451138566076" />
      <inertia ixx="2.69098813167318E-07" ixy="8.62304209463959E-10" ixz="-6.04550044188863E-09" iyy="2.30246140510458E-07" iyz="-6.59645452327905E-10" izz="9.936758742516E-08" />
    </inertial>
    </link>
    <link name="link_RightSkeletonPinky1">
        <visual>
        <origin xyz="0 0 0" rpy="0 0 0" />
        <geometry>
            <mesh filename="package://io_mocap/description/meshes/v2/R_figer5_1.STL" />
        </geometry>
        <material name="">
            <color rgba="0.866666666666667 0.866666666666667 0.890196078431372 1" />
        </material>
        </visual>
        <collision>
        <origin xyz="0 0 0" rpy="0 0 0" />
        <geometry>
            <mesh filename="package://io_mocap/description/meshes/v2/R_figer5_1.STL" />
        </geometry>
        </collision>
    <inertial>
      <origin xyz="0.000360812813613443 0.00151318250531396 0.00378462252953857" rpy="0 0 0" />
      <mass value="0.00101710748996666" />
      <inertia ixx="3.60359300821447E-08" ixy="6.9009658180455E-10" ixz="-3.18067595259478E-10" iyy="2.52489392657119E-08" iyz="-5.56748020487321E-09" izz="2.14911213505005E-08" />
    </inertial>
    </link>
    <link name="link_RightSkeletonPinky2">
        <visual>
        <origin xyz="0 0 0" rpy="0 0 0" />
        <geometry>
            <mesh filename="package://io_mocap/description/meshes/v2/R_figer5_2.STL" />
        </geometry>
        <material name="">
            <color rgba="0.615686274509804 0.643137254901961 0.674509803921569 1" />
        </material>
        </visual>
        <collision>
        <origin xyz="0 0 0" rpy="0 0 0" />
        <geometry>
            <mesh filename="package://io_mocap/description/meshes/v2/R_figer5_2.STL" />
        </geometry>
        </collision>
    <inertial>
      <origin xyz="-0.00197167382396374 0.0148371082660094 0.0306263940066096" rpy="0 0 0" />
      <mass value="0.00743717502619359" />
      <inertia ixx="3.20369246654307E-06" ixy="6.91551054185352E-09" ixz="1.03928624860861E-08" iyy="1.85751925541627E-06" iyz="-1.47357652364543E-06" izz="1.41160211665825E-06" />
    </inertial>
    </link>
    <link name="link_RightSkeletonPinky3">
        <visual>
        <origin xyz="0 0 0" rpy="0 0 0" />
        <geometry>
            <mesh filename="package://io_mocap/description/meshes/v2/R_figer5_3.STL" />
        </geometry>
        <material name="">
            <color rgba="0.866666666666667 0.866666666666667 0.890196078431372 1" />
        </material>
        </visual>
        <collision>
        <origin xyz="0 0 0" rpy="0 0 0" />
        <geometry>
            <mesh filename="package://io_mocap/description/meshes/v2/R_figer5_3.STL" />
        </geometry>
        </collision>
    <inertial>
      <origin xyz="-0.00198377389196425 0.00589676668933767 0.0394769263721164" rpy="0 0 0" />
      <mass value="0.0158610985851529" />
      <inertia ixx="7.84925825249997E-06" ixy="9.46816451083043E-09" ixz="2.4422110452517E-08" iyy="6.57853958099802E-06" iyz="-2.11174091133849E-06" izz="1.41410633218029E-06" />
    </inertial>
    </link>
    <link name="link_RightSkeletonPinky4">
        <visual>
        <origin xyz="0 0 0" rpy="0 0 0" />
        <geometry>
            <mesh filename="package://io_mocap/description/meshes/v2/R_figer5_4.STL" />
        </geometry>
        <material name="">
            <color rgba="0.615686274509804 0.643137254901961 0.674509803921569 1" />
        </material>
        </visual>
        <collision>
        <origin xyz="0 0 0" rpy="0 0 0" />
        <geometry>
            <mesh filename="package://io_mocap/description/meshes/v2/R_figer5_4.STL" />
        </geometry>
        </collision>
    <inertial>
      <origin xyz="-0.00223077102489194 0.00146085887577396 -0.0120042495821303" rpy="0 0 0" />
      <mass value="0.00285451193827601" />
      <inertia ixx="2.69099065953411E-07" ixy="8.61879776024646E-10" ixz="-6.04524815018704E-09" iyy="2.30246213076734E-07" iyz="-6.59490934310487E-10" izz="9.93678401342078E-08" />
    </inertial>
    </link>
    <link name="link_LeftShoulder_R" />
    <link name="link_LeftShoulder_P" />
    <link name="link_LeftShoulder_Y">
        <inertia ixx="1.0" ixy="0.0" ixz="0.0" iyy="1.0" iyz="0.0" izz="1.0" />
        <mass value="5.000000" />
        <visual>
            <origin rpy="0 0 0" xyz="-0.075 0 0" />
            <geometry>
                <box size="0.15 0.02 0.02" />
            </geometry>
            <material name="mat_col_(0.6509803921568628, 0.807843137254902, 0.8901960784313725)">
                <color rgba="0.65 0.81 0.89 1.0" />
            </material>
        </visual>
    </link>
    <link name="link_LeftArm_R" />
    <link name="link_LeftArm_P" />
    <link name="link_LeftArm_Y">
        <inertia ixx="1.0" ixy="0.0" ixz="0.0" iyy="1.0" iyz="0.0" izz="1.0" />
        <mass value="5.000000" />
        <visual>
            <origin rpy="0 0 0" xyz="0 0 -0.13" />
            <geometry>
                <box size="0.02 0.02 0.26" />
            </geometry>
            <material name="mat_col_(0.792156862745098, 0.6980392156862745, 0.8392156862745098)">
                <color rgba="0.79 0.70 0.84 1.0" />
            </material>
        </visual>
    </link>
    <link name="link_LeftForeArm_R" />
    <link name="link_LeftForeArm_P" />
    <link name="link_LeftForeArm_Y">
        <inertia ixx="1.0" ixy="0.0" ixz="0.0" iyy="1.0" iyz="0.0" izz="1.0" />
        <mass value="5.000000" />
        <visual>
            <origin rpy="0 0 0" xyz="0 0 -0.12" />
            <geometry>
                <box size="0.02 0.02 0.24" />
            </geometry>
            <material name="mat_col_(0.6509803921568628, 0.807843137254902, 0.8901960784313725)">
                <color rgba="0.65 0.81 0.89 1.0" />
            </material>
        </visual>
    </link>
    <link name="link_LeftHand_R" />
    <link name="link_LeftHand_P" />
    <link name="link_LeftHand_Y">
        <inertia ixx="1.0" ixy="0.0" ixz="0.0" iyy="1.0" iyz="0.0" izz="1.0" />
        <mass value="5.000000" />
        <visual>
            <origin rpy="0 0 0" xyz="0 0 -0.017634012177586554" />
            <geometry>
                <box size="0.02 0.02 0.030043131858110427" />
            </geometry>
            <material name="mat_col_(0.6941176470588235, 0.34901960784313724, 0.1568627450980392)">
                <color rgba="0.69 0.35 0.16 1.0" />
            </material>
        </visual>
    </link>
    <link name="link_LeftHandThumb1_R" />
    <link name="link_LeftHandThumb1_P" />
    <link name="link_LeftHandThumb1_Y">
        <inertia ixx="1.0" ixy="0.0" ixz="0.0" iyy="1.0" iyz="0.0" izz="1.0" />
        <mass value="5.000000" />
        <visual>
            <origin rpy="0 0 0" xyz="0 0 -0.02090881034731865" />
            <geometry>
                <box size="0.01 0.01 0.035622417628765106" />
            </geometry>
            <material name="mat_col_(0.792156862745098, 0.6980392156862745, 0.8392156862745098)">
                <color rgba="0.79 0.70 0.84 1.0" />
            </material>
        </visual>
    </link>
    <link name="link_LeftHandThumb2_R" />
    <link name="link_LeftHandThumb2_P" />
    <link name="link_LeftHandThumb2_Y">
        <inertia ixx="1.0" ixy="0.0" ixz="0.0" iyy="1.0" iyz="0.0" izz="1.0" />
        <mass value="5.000000" />
        <visual>
            <origin rpy="0 0 0" xyz="0 0 -0.014525998458266258" />
            <geometry>
                <box size="0.01 0.01 0.024747997373342514" />
            </geometry>
            <material name="mat_col_(0.41568627450980394, 0.23921568627450981, 0.6039215686274509)">
                <color rgba="0.42 0.24 0.60 1.0" />
            </material>
        </visual>
    </link>
    <link name="link_LeftHandThumb3_R" />
    <link name="link_LeftHandThumb3_P" />
    <link name="link_LeftHandThumb3_Y">
        <inertia ixx="1.0" ixy="0.0" ixz="0.0" iyy="1.0" iyz="0.0" izz="1.0" />
        <mass value="5.000000" />
        <visual>
            <origin rpy="0 0 0" xyz="0 0 -0.013699802979826927" />
            <geometry>
                <box size="0.01 0.01 0.023340405076742173" />
            </geometry>
            <material name="mat_col_(0.6509803921568628, 0.807843137254902, 0.8901960784313725)">
                <color rgba="0.65 0.81 0.89 1.0" />
            </material>
        </visual>
    </link>
    <link name="link_LeftInHandIndex_R" />
    <link name="link_LeftInHandIndex_P" />
    <link name="link_LeftInHandIndex_Y">
        <inertia ixx="1.0" ixy="0.0" ixz="0.0" iyy="1.0" iyz="0.0" izz="1.0" />
        <mass value="5.000000" />
        <visual>
            <origin rpy="0 0 0" xyz="0 0 -0.030162290632724763" />
            <geometry>
                <box size="0.01 0.01 0.051387606263160704" />
            </geometry>
            <material name="mat_col_(0.2, 0.6274509803921569, 0.17254901960784313)">
                <color rgba="0.20 0.63 0.17 1.0" />
            </material>
        </visual>
    </link>
    <link name="link_LeftHandIndex1_R" />
    <link name="link_LeftHandIndex1_P" />
    <link name="link_LeftHandIndex1_Y">
        <inertia ixx="1.0" ixy="0.0" ixz="0.0" iyy="1.0" iyz="0.0" izz="1.0" />
        <mass value="5.000000" />
        <visual>
            <origin rpy="0 0 0" xyz="0 0 -0.020552407130599023" />
            <geometry>
                <box size="0.01 0.01 0.03501521214842796" />
            </geometry>
            <material name="mat_col_(1.0, 0.4980392156862745, 0.0)">
                <color rgba="1.00 0.50 0.00 1.0" />
            </material>
        </visual>
    </link>
    <link name="link_LeftHandIndex2_R" />
    <link name="link_LeftHandIndex2_P" />
    <link name="link_LeftHandIndex2_Y">
        <inertia ixx="1.0" ixy="0.0" ixz="0.0" iyy="1.0" iyz="0.0" izz="1.0" />
        <mass value="5.000000" />
        <visual>
            <origin rpy="0 0 0" xyz="0 0 -0.011653190664947032" />
            <geometry>
                <box size="0.01 0.01 0.019853584095835687" />
            </geometry>
            <material name="mat_col_(0.984313725490196, 0.6039215686274509, 0.6)">
                <color rgba="0.98 0.60 0.60 1.0" />
            </material>
        </visual>
    </link>
    <link name="link_LeftHandIndex3_R" />
    <link name="link_LeftHandIndex3_P" />
    <link name="link_LeftHandIndex3_Y">
        <inertia ixx="1.0" ixy="0.0" ixz="0.0" iyy="1.0" iyz="0.0" izz="1.0" />
        <mass value="5.000000" />
        <visual>
            <origin rpy="0 0 0" xyz="0 0 -0.010249215178191662" />
            <geometry>
                <box size="0.01 0.01 0.01746162585914135" />
            </geometry>
            <material name="mat_col_(0.6509803921568628, 0.807843137254902, 0.8901960784313725)">
                <color rgba="0.65 0.81 0.89 1.0" />
            </material>
        </visual>
    </link>
    <link name="link_LeftInHandMiddle_R" />
    <link name="link_LeftInHandMiddle_P" />
    <link name="link_LeftInHandMiddle_Y">
        <inertia ixx="1.0" ixy="0.0" ixz="0.0" iyy="1.0" iyz="0.0" izz="1.0" />
        <mass value="5.000000" />
        <visual>
            <origin rpy="0 0 0" xyz="0 0 -0.02943922273814678" />
            <geometry>
                <box size="0.01 0.01 0.050155712813138964" />
            </geometry>
            <material name="mat_col_(0.6980392156862745, 0.8745098039215686, 0.5411764705882353)">
                <color rgba="0.70 0.87 0.54 1.0" />
            </material>
        </visual>
    </link>
    <link name="link_LeftHandMiddle1_R" />
    <link name="link_LeftHandMiddle1_P" />
    <link name="link_LeftHandMiddle1_Y">
        <inertia ixx="1.0" ixy="0.0" ixz="0.0" iyy="1.0" iyz="0.0" izz="1.0" />
        <mass value="5.000000" />
        <visual>
            <origin rpy="0 0 0" xyz="0 0 -0.022426203042268753" />
            <geometry>
                <box size="0.01 0.01 0.03820760518312454" />
            </geometry>
            <material name="mat_col_(0.6941176470588235, 0.34901960784313724, 0.1568627450980392)">
                <color rgba="0.69 0.35 0.16 1.0" />
            </material>
        </visual>
    </link>
    <link name="link_LeftHandMiddle2_R" />
    <link name="link_LeftHandMiddle2_P" />
    <link name="link_LeftHandMiddle2_Y">
        <inertia ixx="1.0" ixy="0.0" ixz="0.0" iyy="1.0" iyz="0.0" izz="1.0" />
        <mass value="5.000000" />
        <visual>
            <origin rpy="0 0 0" xyz="0 0 -0.014056202173233032" />
            <geometry>
                <box size="0.01 0.01 0.023947603702545166" />
            </geometry>
            <material name="mat_col_(0.6509803921568628, 0.807843137254902, 0.8901960784313725)">
                <color rgba="0.65 0.81 0.89 1.0" />
            </material>
        </visual>
    </link>
    <link name="link_LeftHandMiddle3_R" />
    <link name="link_LeftHandMiddle3_P" />
    <link name="link_LeftHandMiddle3_Y">
        <inertia ixx="1.0" ixy="0.0" ixz="0.0" iyy="1.0" iyz="0.0" izz="1.0" />
        <mass value="5.000000" />
        <visual>
            <origin rpy="0 0 0" xyz="0 0 -0.011210399866104125" />
            <geometry>
                <box size="0.01 0.01 0.019099199771881105" />
            </geometry>
            <material name="mat_col_(0.6509803921568628, 0.807843137254902, 0.8901960784313725)">
                <color rgba="0.65 0.81 0.89 1.0" />
            </material>
        </visual>
    </link>
    <link name="link_LeftInHandRing_R" />
    <link name="link_LeftInHandRing_P" />
    <link name="link_LeftInHandRing_Y">
        <inertia ixx="1.0" ixy="0.0" ixz="0.0" iyy="1.0" iyz="0.0" izz="1.0" />
        <mass value="5.000000" />
        <visual>
            <origin rpy="0 0 0" xyz="0 0 -0.026454875618219374" />
            <geometry>
                <box size="0.01 0.01 0.04507126957178116" />
            </geometry>
            <material name="mat_col_(1.0, 1.0, 0.6)">
                <color rgba="1.00 1.00 0.60 1.0" />
            </material>
        </visual>
    </link>
    <link name="link_LeftHandRing1_R" />
    <link name="link_LeftHandRing1_P" />
    <link name="link_LeftHandRing1_Y">
        <inertia ixx="1.0" ixy="0.0" ixz="0.0" iyy="1.0" iyz="0.0" izz="1.0" />
        <mass value="5.000000" />
        <visual>
            <origin rpy="0 0 0" xyz="0 0 -0.019542589634656906" />
            <geometry>
                <box size="0.01 0.01 0.03329478234052658" />
            </geometry>
            <material name="mat_col_(0.8901960784313725, 0.10196078431372549, 0.10980392156862745)">
                <color rgba="0.89 0.10 0.11 1.0" />
            </material>
        </visual>
    </link>
    <link name="link_LeftHandRing2_R" />
    <link name="link_LeftHandRing2_P" />
    <link name="link_LeftHandRing2_Y">
        <inertia ixx="1.0" ixy="0.0" ixz="0.0" iyy="1.0" iyz="0.0" izz="1.0" />
        <mass value="5.000000" />
        <visual>
            <origin rpy="0 0 0" xyz="0 0 -0.01355940341949463" />
            <geometry>
                <box size="0.01 0.01 0.023101205825805663" />
            </geometry>
            <material name="mat_col_(0.2, 0.6274509803921569, 0.17254901960784313)">
                <color rgba="0.20 0.63 0.17 1.0" />
            </material>
        </visual>
    </link>
    <link name="link_LeftHandRing3_R" />
    <link name="link_LeftHandRing3_P" />
    <link name="link_LeftHandRing3_Y">
        <inertia ixx="1.0" ixy="0.0" ixz="0.0" iyy="1.0" iyz="0.0" izz="1.0" />
        <mass value="5.000000" />
        <visual>
            <origin rpy="0 0 0" xyz="0 0 -0.010540791749954224" />
            <geometry>
                <box size="0.01 0.01 0.017958385944366453" />
            </geometry>
            <material name="mat_col_(0.984313725490196, 0.6039215686274509, 0.6)">
                <color rgba="0.98 0.60 0.60 1.0" />
            </material>
        </visual>
    </link>
    <link name="link_LeftInHandPinky_R" />
    <link name="link_LeftInHandPinky_P" />
    <link name="link_LeftInHandPinky_Y">
        <inertia ixx="1.0" ixy="0.0" ixz="0.0" iyy="1.0" iyz="0.0" izz="1.0" />
        <mass value="5.000000" />
        <visual>
            <origin rpy="0 0 0" xyz="0 0 -0.024314074516296386" />
            <geometry>
                <box size="0.01 0.01 0.041423978805541994" />
            </geometry>
            <material name="mat_col_(0.12156862745098039, 0.47058823529411764, 0.7058823529411765)">
                <color rgba="0.12 0.47 0.71 1.0" />
            </material>
        </visual>
    </link>
    <link name="link_LeftHandPinky1_R" />
    <link name="link_LeftHandPinky1_P" />
    <link name="link_LeftHandPinky1_Y">
        <inertia ixx="1.0" ixy="0.0" ixz="0.0" iyy="1.0" iyz="0.0" izz="1.0" />
        <mass value="5.000000" />
        <visual>
            <origin rpy="0 0 0" xyz="0 0 -0.015649211034178732" />
            <geometry>
                <box size="0.01 0.01 0.026661618798971175" />
            </geometry>
            <material name="mat_col_(0.984313725490196, 0.6039215686274509, 0.6)">
                <color rgba="0.98 0.60 0.60 1.0" />
            </material>
        </visual>
    </link>
    <link name="link_LeftHandPinky2_R" />
    <link name="link_LeftHandPinky2_P" />
    <link name="link_LeftHandPinky2_Y">
        <inertia ixx="1.0" ixy="0.0" ixz="0.0" iyy="1.0" iyz="0.0" izz="1.0" />
        <mass value="5.000000" />
        <visual>
            <origin rpy="0 0 0" xyz="0 0 -0.009887406639754771" />
            <geometry>
                <box size="0.01 0.01 0.0168452113121748" />
            </geometry>
            <material name="mat_col_(0.984313725490196, 0.6039215686274509, 0.6)">
                <color rgba="0.98 0.60 0.60 1.0" />
            </material>
        </visual>
    </link>
    <link name="link_LeftHandPinky3_R" />
    <link name="link_LeftHandPinky3_P" />
    <link name="link_LeftHandPinky3_Y">
        <inertia ixx="1.0" ixy="0.0" ixz="0.0" iyy="1.0" iyz="0.0" izz="1.0" />
        <mass value="5.000000" />
        <visual>
            <origin rpy="0 0 0" xyz="0 0 -0.009342006258666515" />
            <geometry>
                <box size="0.01 0.01 0.015916010662913323" />
            </geometry>
            <material name="mat_col_(0.41568627450980394, 0.23921568627450981, 0.6039215686274509)">
                <color rgba="0.42 0.24 0.60 1.0" />
            </material>
        </visual>
    </link>
    
    <!-- <link name="link_LeftMarker">
        <visual>
        <origin xyz="0 0 0" rpy="0 0 0" />
        <geometry>
            <mesh filename="package://io_mocap/description/meshes/v2/L_markseat.STL" />
        </geometry>
        <material name="">
            <color rgba="0.792156862745098 0.819607843137255 0.933333333333333 1" />
        </material>
        </visual>
        <collision>
        <origin xyz="0 0 0" rpy="0 0 0" />
        <geometry>
            <mesh filename="package://io_mocap/description/meshes/v2/L_markseat.STL" />
        </geometry>
        </collision>
    <inertial>
      <origin xyz="0.00294203633534093 1.08765645101538E-09 -0.00737738070930407" rpy="0 0 0" />
      <mass value="0.0154177032704756" />
      <inertia ixx="5.71644078153582E-06" ixy="-1.51036310322336E-12" ixz="3.68081022115822E-08" iyy="2.68588112925339E-06" iyz="3.37822886004042E-14" izz="8.26174791000096E-06" />
    </inertial>
    </link> -->
    <link name="link_LeftSkeletonBase">
        <visual>
        <origin xyz="0 0 0" rpy="0 0 0" />
        <geometry>
            <mesh filename="package://io_mocap/description/meshes/v2/L_base_link.STL" />
        </geometry>
        <material name="">
            <color rgba="0.615686274509804 0.643137254901961 0.674509803921569 1" />
        </material>
        </visual>
        <collision>
        <origin xyz="0 0 0" rpy="0 0 0" />
        <geometry>
            <mesh filename="package://io_mocap/description/meshes/v2/L_base_link.STL" />
        </geometry>
        </collision>
    <inertial>
      <origin xyz="-0.0108539035227022 -0.0158308925811686 -0.00806883984153759" rpy="0 0 0" />
      <mass value="0.0665694383287888" />
      <inertia ixx="2.05120851592789E-05" ixy="-1.10780255322626E-06" ixz="-3.39716150008078E-07" iyy="3.71629789590125E-05" iyz="-1.50966917461677E-06" izz="5.59109754930516E-05" />
    </inertial>
    </link>
    <link name="link_LeftSkeletonThumbBase">
        <visual>
        <origin xyz="0 0 0" rpy="0 0 0" />
        <geometry>
            <mesh filename="package://io_mocap/description/meshes/v2/L_figer1base.STL" />
        </geometry>
        <material name="">
            <color rgba="0.792156862745098 0.819607843137255 0.933333333333333 1" />
        </material>
        </visual>
        <collision>
        <origin xyz="0 0 0" rpy="0 0 0" />
        <geometry>
            <mesh filename="package://io_mocap/description/meshes/v2/L_figer1base.STL" />
        </geometry>
        </collision>
    <inertial>
      <origin xyz="0.00186995378479886 0.0546526661201471 -0.0157557480181502" rpy="0 0 0" />
      <mass value="0.122473901434199" />
      <inertia ixx="5.08315772173446E-05" ixy="-1.17969156802677E-05" ixz="2.58903837087812E-06" iyy="4.90200620481609E-05" iyz="1.03778271488674E-05" izz="9.2999161446773E-05" />
    </inertial>
    </link>
    <link name="link_LeftSkeletonThumb1">
        <visual>
        <origin xyz="0 0 0" rpy="0 0 0" />
        <geometry>
            <mesh filename="package://io_mocap/description/meshes/v2/L_figer1_1.STL" />
        </geometry>
        <material name="">
            <color rgba="0.866666666666667 0.866666666666667 0.890196078431372 1" />
        </material>
        </visual>
        <collision>
        <origin xyz="0 0 0" rpy="0 0 0" />
        <geometry>
            <mesh filename="package://io_mocap/description/meshes/v2/L_figer1_1.STL" />
        </geometry>
        </collision>
    <inertial>
      <origin xyz="0.000360812813613477 0.0015131825053139 0.00378462252953859" rpy="0 0 0" />
      <mass value="0.00101710748996665" />
      <inertia ixx="3.60359300821446E-08" ixy="6.90096581804603E-10" ixz="-3.18067595259436E-10" iyy="2.52489392657119E-08" iyz="-5.5674802048732E-09" izz="2.14911213505005E-08" />
    </inertial>
    </link>
    <link name="link_LeftSkeletonThumb2">
        <visual>
        <origin xyz="0 0 0" rpy="0 0 0" />
        <geometry>
            <mesh filename="package://io_mocap/description/meshes/v2/L_figer1_2.STL" />
        </geometry>
        <material name="">
            <color rgba="0.866666666666667 0.866666666666667 0.890196078431372 1" />
        </material>
        </visual>
        <collision>
        <origin xyz="0 0 0" rpy="0 0 0" />
        <geometry>
            <mesh filename="package://io_mocap/description/meshes/v2/L_figer1_2.STL" />
        </geometry>
        </collision>
    <inertial>
      <origin xyz="-0.00197467254262259 0.0178857182733868 0.03390270456392" rpy="0 0 0" />
      <mass value="0.00826129582139841" />
      <inertia ixx="4.4887452981934E-06" ixy="8.02828382516883E-09" ixz="1.14562196842765E-08" iyy="2.51339622115208E-06" iyz="-2.10825070458165E-06" izz="2.04843425381471E-06" />
    </inertial>
    </link>
    <link name="link_LeftSkeletonThumb3">
        <visual>
        <origin xyz="0 0 0" rpy="0 0 0" />
        <geometry>
            <mesh filename="package://io_mocap/description/meshes/v2/L_figer1_3.STL" />
        </geometry>
        <material name="">
            <color rgba="0.866666666666667 0.866666666666667 0.890196078431372 1" />
        </material>
        </visual>
        <collision>
        <origin xyz="0 0 0" rpy="0 0 0" />
        <geometry>
            <mesh filename="package://io_mocap/description/meshes/v2/L_figer1_3.STL" />
        </geometry>
        </collision>
    <inertial>
      <origin xyz="-0.00196858571107591 0.00102017391560514 0.0221861693119163" rpy="0 0 0" />
      <mass value="0.0085937407191672" />
      <inertia ixx="1.4400096911182E-06" ixy="2.20902199358474E-09" ixz="1.56435418494776E-08" iyy="1.36265837147501E-06" iyz="-1.58829636765945E-07" izz="1.5322278140942E-07" />
    </inertial>
    </link>
    <link name="link_LeftSkeletonThumb4">
        <visual>
        <origin xyz="0 0 0" rpy="0 0 0" />
        <geometry>
            <mesh filename="package://io_mocap/description/meshes/v2/L_figer1_4.STL" />
        </geometry>
        <material name="">
            <color rgba="0.866666666666667 0.866666666666667 0.890196078431372 1" />
        </material>
        </visual>
        <collision>
        <origin xyz="0 0 0" rpy="0 0 0" />
        <geometry>
            <mesh filename="package://io_mocap/description/meshes/v2/L_figer1_4.STL" />
        </geometry>
        </collision>
    <inertial>
      <origin xyz="-0.00223078797342493 0.00146085880259247 -0.0120042466244932" rpy="0 0 0" />
      <mass value="0.00285450549073411" />
      <inertia ixx="2.69098784556893E-07" ixy="8.62336306036439E-10" ixz="-6.0453731547874E-09" iyy="2.30246426309336E-07" iyz="-6.59792224181577E-10" izz="9.93674279360172E-08" />
    </inertial>
    </link>
    <link name="link_LeftSkeletonIndex1">
        <visual>
        <origin xyz="0 0 0" rpy="0 0 0" />
        <geometry>
            <mesh filename="package://io_mocap/description/meshes/v2/L_figer2_1.STL" />
        </geometry>
        <material name="">
            <color rgba="0.866666666666667 0.866666666666667 0.890196078431372 1" />
        </material>
        </visual>
        <collision>
        <origin xyz="0 0 0" rpy="0 0 0" />
        <geometry>
            <mesh filename="package://io_mocap/description/meshes/v2/L_figer2_1.STL" />
        </geometry>
        </collision>
    <inertial>
      <origin xyz="0.000360812813613469 0.00151318250531395 0.00378462252953856" rpy="0 0 0" />
      <mass value="0.00101710748996665" />
      <inertia ixx="3.60359300821446E-08" ixy="6.90096581804596E-10" ixz="-3.18067595259433E-10" iyy="2.52489392657119E-08" iyz="-5.5674802048732E-09" izz="2.14911213505005E-08" />
    </inertial>
    </link>
    <link name="link_LeftSkeletonIndex2">
        <visual>
        <origin xyz="0 0 0" rpy="0 0 0" />
        <geometry>
            <mesh filename="package://io_mocap/description/meshes/v2/L_figer2_2.STL" />
        </geometry>
        <material name="">
            <color rgba="0.866666666666667 0.866666666666667 0.890196078431372 1" />
        </material>
        </visual>
        <collision>
        <origin xyz="0 0 0" rpy="0 0 0" />
        <geometry>
            <mesh filename="package://io_mocap/description/meshes/v2/L_figer2_2.STL" />
        </geometry>
        </collision>
    <inertial>
      <origin xyz="-0.00197167382396378 0.0148371082660094 0.0306263940066097" rpy="0 0 0" />
      <mass value="0.0074371750261936" />
      <inertia ixx="3.20369246654308E-06" ixy="6.91551054185346E-09" ixz="1.03928624860861E-08" iyy="1.85751925541628E-06" iyz="-1.47357652364544E-06" izz="1.41160211665826E-06" />
    </inertial>
    </link>
    <link name="link_LeftSkeletonIndex3">
        <visual>
        <origin xyz="0 0 0" rpy="0 0 0" />
        <geometry>
            <mesh filename="package://io_mocap/description/meshes/v2/L_figer2_3.STL" />
        </geometry>
        <material name="">
            <color rgba="0.866666666666667 0.866666666666667 0.890196078431372 1" />
        </material>
        </visual>
        <collision>
        <origin xyz="0 0 0" rpy="0 0 0" />
        <geometry>
            <mesh filename="package://io_mocap/description/meshes/v2/L_figer2_3.STL" />
        </geometry>
        </collision>
    <inertial>
      <origin xyz="-0.00198377389196417 0.00589676668933767 0.0394769263721165" rpy="0 0 0" />
      <mass value="0.0158610985851529" />
      <inertia ixx="7.84925825249999E-06" ixy="9.46816451083096E-09" ixz="2.44221104525184E-08" iyy="6.57853958099804E-06" iyz="-2.11174091133849E-06" izz="1.41410633218029E-06" />
    </inertial>
    </link>
    <link name="link_LeftSkeletonIndex4">
        <visual>
        <origin xyz="0 0 0" rpy="0 0 0" />
        <geometry>
            <mesh filename="package://io_mocap/description/meshes/v2/L_figer2_4.STL" />
        </geometry>
        <material name="">
            <color rgba="0.866666666666667 0.866666666666667 0.890196078431372 1" />
        </material>
        </visual>
        <collision>
        <origin xyz="0 0 0" rpy="0 0 0" />
        <geometry>
            <mesh filename="package://io_mocap/description/meshes/v2/L_figer2_4.STL" />
        </geometry>
        </collision>
    <inertial>
      <origin xyz="-0.00223077370323236 0.00146085812644289 -0.0120042535360337" rpy="0 0 0" />
      <mass value="0.00285451442045608" />
      <inertia ixx="2.69099042944873E-07" ixy="8.61864961674821E-10" ixz="-6.04529823237377E-09" iyy="2.30246195740985E-07" iyz="-6.59474936426538E-10" izz="9.93678827989884E-08" />
    </inertial>
    </link>
    <link name="link_LeftSkeletonMiddle1">
        <visual>
        <origin xyz="0 0 0" rpy="0 0 0" />
        <geometry>
            <mesh filename="package://io_mocap/description/meshes/v2/L_figer3_1.STL" />
        </geometry>
        <material name="">
            <color rgba="0.866666666666667 0.866666666666667 0.890196078431372 1" />
        </material>
        </visual>
        <collision>
        <origin xyz="0 0 0" rpy="0 0 0" />
        <geometry>
            <mesh filename="package://io_mocap/description/meshes/v2/L_figer3_1.STL" />
        </geometry>
        </collision>
    <inertial>
      <origin xyz="0.000360812813613463 0.00151318250531395 0.00378462252953856" rpy="0 0 0" />
      <mass value="0.00101710748996666" />
      <inertia ixx="3.60359300821446E-08" ixy="6.90096581804599E-10" ixz="-3.18067595259436E-10" iyy="2.52489392657119E-08" iyz="-5.56748020487321E-09" izz="2.14911213505005E-08" />
    </inertial>
    </link>
    <link name="link_LeftSkeletonMiddle2">
        <visual>
        <origin xyz="0 0 0" rpy="0 0 0" />
        <geometry>
            <mesh filename="package://io_mocap/description/meshes/v2/L_figer3_2.STL" />
        </geometry>
        <material name="">
            <color rgba="0.866666666666667 0.866666666666667 0.890196078431372 1" />
        </material>
        </visual>
        <collision>
        <origin xyz="0 0 0" rpy="0 0 0" />
        <geometry>
            <mesh filename="package://io_mocap/description/meshes/v2/L_figer3_2.STL" />
        </geometry>
        </collision>
    <inertial>
      <origin xyz="-0.00197167382396379 0.0148371082660094 0.0306263940066097" rpy="0 0 0" />
      <mass value="0.00743717502619359" />
      <inertia ixx="3.20369246654308E-06" ixy="6.91551054185354E-09" ixz="1.03928624860862E-08" iyy="1.85751925541628E-06" iyz="-1.47357652364543E-06" izz="1.41160211665825E-06" />
    </inertial>
    </link>
    <link name="link_LeftSkeletonMiddle3">
        <visual>
        <origin xyz="0 0 0" rpy="0 0 0" />
        <geometry>
            <mesh filename="package://io_mocap/description/meshes/v2/L_figer3_3.STL" />
        </geometry>
        <material name="">
            <color rgba="0.866666666666667 0.866666666666667 0.890196078431372 1" />
        </material>
        </visual>
        <collision>
        <origin xyz="0 0 0" rpy="0 0 0" />
        <geometry>
            <mesh filename="package://io_mocap/description/meshes/v2/L_figer3_3.STL" />
        </geometry>
        </collision>
    <inertial>
      <origin xyz="-0.00198377389196416 0.00589676668933767 0.0394769263721164" rpy="0 0 0" />
      <mass value="0.0158610985851528" />
      <inertia ixx="7.84925825249998E-06" ixy="9.46816451083211E-09" ixz="2.44221104525174E-08" iyy="6.57853958099803E-06" iyz="-2.11174091133849E-06" izz="1.41410633218029E-06" />
    </inertial>
    </link>
    <link name="link_LeftSkeletonMiddle4">
        <visual>
        <origin xyz="0 0 0" rpy="0 0 0" />
        <geometry>
            <mesh filename="package://io_mocap/description/meshes/v2/L_figer3_4.STL" />
        </geometry>
        <material name="">
            <color rgba="0.866666666666667 0.866666666666667 0.890196078431372 1" />
        </material>
        </visual>
        <collision>
        <origin xyz="0 0 0" rpy="0 0 0" />
        <geometry>
            <mesh filename="package://io_mocap/description/meshes/v2/L_figer3_4.STL" />
        </geometry>
        </collision>
    <inertial>
      <origin xyz="-0.00223079115621105 0.00146085421009459 -0.0120042498487828" rpy="0 0 0" />
      <mass value="0.00285451142065185" />
      <inertia ixx="2.69098807844918E-07" ixy="8.62308164719076E-10" ixz="-6.04550419581856E-09" iyy="2.30246144405009E-07" iyz="-6.5964906908356E-10" izz="9.9367582794898E-08" />
    </inertial>
    </link>
    <link name="link_LeftSkeletonRing1">
        <visual>
        <origin xyz="0 0 0" rpy="0 0 0" />
        <geometry>
            <mesh filename="package://io_mocap/description/meshes/v2/L_figer4_1.STL" />
        </geometry>
        <material name="">
            <color rgba="0.866666666666667 0.866666666666667 0.890196078431372 1" />
        </material>
        </visual>
        <collision>
        <origin xyz="0 0 0" rpy="0 0 0" />
        <geometry>
            <mesh filename="package://io_mocap/description/meshes/v2/L_figer4_1.STL" />
        </geometry>
        </collision>
    <inertial>
      <origin xyz="0.00036081281361347 0.00151318250531395 0.00378462252953856" rpy="0 0 0" />
      <mass value="0.00101710748996666" />
      <inertia ixx="3.60359300821446E-08" ixy="6.90096581804602E-10" ixz="-3.18067595259433E-10" iyy="2.52489392657119E-08" iyz="-5.56748020487321E-09" izz="2.14911213505005E-08" />
    </inertial>
    </link>
    <link name="link_LeftSkeletonRing2">
        <visual>
        <origin xyz="0 0 0" rpy="0 0 0" />
        <geometry>
            <mesh filename="package://io_mocap/description/meshes/v2/L_figer4_2.STL" />
        </geometry>
        <material name="">
            <color rgba="0.866666666666667 0.866666666666667 0.890196078431372 1" />
        </material>
        </visual>
        <collision>
        <origin xyz="0 0 0" rpy="0 0 0" />
        <geometry>
            <mesh filename="package://io_mocap/description/meshes/v2/L_figer4_2.STL" />
        </geometry>
        </collision>
    <inertial>
      <origin xyz="-0.00197167382396378 0.0148371082660094 0.0306263940066096" rpy="0 0 0" />
      <mass value="0.00743717502619359" />
      <inertia ixx="3.20369246654307E-06" ixy="6.91551054185427E-09" ixz="1.03928624860869E-08" iyy="1.85751925541628E-06" iyz="-1.47357652364543E-06" izz="1.41160211665825E-06" />
    </inertial>
    </link>
    <link name="link_LeftSkeletonRing3">
        <visual>
        <origin xyz="0 0 0" rpy="0 0 0" />
        <geometry>
            <mesh filename="package://io_mocap/description/meshes/v2/L_figer4_3.STL" />
        </geometry>
        <material name="">
            <color rgba="0.866666666666667 0.866666666666667 0.890196078431372 1" />
        </material>
        </visual>
        <collision>
        <origin xyz="0 0 0" rpy="0 0 0" />
        <geometry>
            <mesh filename="package://io_mocap/description/meshes/v2/L_figer4_3.STL" />
        </geometry>
        </collision>
    <inertial>
      <origin xyz="-0.00198377389196417 0.00589676668933766 0.0394769263721164" rpy="0 0 0" />
      <mass value="0.0158610985851529" />
      <inertia ixx="7.84925825249999E-06" ixy="9.46816451083258E-09" ixz="2.4422110452518E-08" iyy="6.57853958099803E-06" iyz="-2.11174091133848E-06" izz="1.41410633218029E-06" />
    </inertial>
    </link>
    <link name="link_LeftSkeletonRing4">
        <visual>
        <origin xyz="0 0 0" rpy="0 0 0" />
        <geometry>
            <mesh filename="package://io_mocap/description/meshes/v2/L_figer4_4.STL" />
        </geometry>
        <material name="">
            <color rgba="0.866666666666667 0.866666666666667 0.890196078431372 1" />
        </material>
        </visual>
        <collision>
        <origin xyz="0 0 0" rpy="0 0 0" />
        <geometry>
            <mesh filename="package://io_mocap/description/meshes/v2/L_figer4_4.STL" />
        </geometry>
        </collision>
    <inertial>
      <origin xyz="-0.00223079115621104 0.00146085421009454 -0.012004249848783" rpy="0 0 0" />
      <mass value="0.00285451142065188" />
      <inertia ixx="2.69098807844921E-07" ixy="8.62308164718856E-10" ixz="-6.04550419581846E-09" iyy="2.30246144405012E-07" iyz="-6.59649069084685E-10" izz="9.93675827948994E-08" />
    </inertial>
    </link>
    <link name="link_LeftSkeletonPinky1">
        <visual>
        <origin xyz="0 0 0" rpy="0 0 0" />
        <geometry>
            <mesh filename="package://io_mocap/description/meshes/v2/L_figer5_1.STL" />
        </geometry>
        <material name="">
            <color rgba="0.866666666666667 0.866666666666667 0.890196078431372 1" />
        </material>
        </visual>
        <collision>
        <origin xyz="0 0 0" rpy="0 0 0" />
        <geometry>
            <mesh filename="package://io_mocap/description/meshes/v2/L_figer5_1.STL" />
        </geometry>
        </collision>
    <inertial>
      <origin xyz="0.000360812813613456 0.00151318250531395 0.00378462252953857" rpy="0 0 0" />
      <mass value="0.00101710748996666" />
      <inertia ixx="3.60359300821447E-08" ixy="6.90096581804596E-10" ixz="-3.18067595259449E-10" iyy="2.52489392657119E-08" iyz="-5.56748020487321E-09" izz="2.14911213505005E-08" />
    </inertial>
    </link>
    <link name="link_LeftSkeletonPinky2">
        <visual>
        <origin xyz="0 0 0" rpy="0 0 0" />
        <geometry>
            <mesh filename="package://io_mocap/description/meshes/v2/L_figer5_2.STL" />
        </geometry>
        <material name="">
            <color rgba="0.866666666666667 0.866666666666667 0.890196078431372 1" />
        </material>
        </visual>
        <collision>
        <origin xyz="0 0 0" rpy="0 0 0" />
        <geometry>
            <mesh filename="package://io_mocap/description/meshes/v2/L_figer5_2.STL" />
        </geometry>
        </collision>
    <inertial>
      <origin xyz="-0.00197167382396379 0.0148371082660094 0.0306263940066097" rpy="0 0 0" />
      <mass value="0.00743717502619359" />
      <inertia ixx="3.20369246654308E-06" ixy="6.91551054185384E-09" ixz="1.03928624860862E-08" iyy="1.85751925541628E-06" iyz="-1.47357652364543E-06" izz="1.41160211665826E-06" />
    </inertial>
    </link>
    <link name="link_LeftSkeletonPinky3">
        <visual>
        <origin xyz="0 0 0" rpy="0 0 0" />
        <geometry>
            <mesh filename="package://io_mocap/description/meshes/v2/L_figer5_3.STL" />
        </geometry>
        <material name="">
            <color rgba="0.866666666666667 0.866666666666667 0.890196078431372 1" />
        </material>
        </visual>
        <collision>
        <origin xyz="0 0 0" rpy="0 0 0" />
        <geometry>
            <mesh filename="package://io_mocap/description/meshes/v2/L_figer5_3.STL" />
        </geometry>
        </collision>
    <inertial>
      <origin xyz="-0.00198377389196414 0.0058967666893377 0.0394769263721165" rpy="0 0 0" />
      <mass value="0.0158610985851529" />
      <inertia ixx="7.84925825249999E-06" ixy="9.46816451083149E-09" ixz="2.44221104525178E-08" iyy="6.57853958099803E-06" iyz="-2.11174091133849E-06" izz="1.41410633218029E-06" />
    </inertial>
    </link>
    <link name="link_LeftSkeletonPinky4">
        <visual>
        <origin xyz="0 0 0" rpy="0 0 0" />
        <geometry>
            <mesh filename="package://io_mocap/description/meshes/v2/L_figer5_4.STL" />
        </geometry>
        <material name="">
            <color rgba="0.866666666666667 0.866666666666667 0.890196078431372 1" />
        </material>
        </visual>
        <collision>
        <origin xyz="0 0 0" rpy="0 0 0" />
        <geometry>
            <mesh filename="package://io_mocap/description/meshes/v2/L_figer5_4.STL" />
        </geometry>
        </collision>
    <inertial>
      <origin xyz="-0.00223080124527202 0.00146085261905471 -0.0120042678699334" rpy="0 0 0" />
      <mass value="0.00285451773511369" />
      <inertia ixx="2.69098584693886E-07" ixy="8.62453323111713E-10" ixz="-6.04562220515747E-09" iyy="2.30246510185088E-07" iyz="-6.59792901082199E-10" izz="9.93674787950233E-08" />
    </inertial>
    </link>
    <link name="camera_color_optical_frame">
        <inertia ixx="1.0" ixy="0.0" ixz="0.0" iyy="1.0" iyz="0.0" izz="1.0" />
        <mass value="5.000000" />
    </link>
    
    <joint name="joint_Head_Camera" type="revolute">
        <parent link="link_Head_R" />
        <child link="camera_color_optical_frame" />
        <axis xyz="1 0 0" />
        <limit effort="100.0000" lower="-3.141592653589793" upper="3.141592653589793" velocity="3.0000" />
        <origin rpy="-2.083251 -0.0320048 -0.01900280" xyz="-0.03355291 -0.1370046 -0.02628184" />
    </joint>
    <joint name="joint_Hips_R" type="revolute">
        <parent link="base_link" />
        <child link="link_Hips_R" />
        <axis xyz="1 0 0" />
        <limit effort="100.0000" lower="-3.141592653589793" upper="3.141592653589793" velocity="3.0000" />
        <origin rpy="0 0 0" xyz="0.0 0.0 0.971200" />
    </joint>
    <joint name="joint_Hips_P" type="revolute">
        <parent link="link_Hips_R" />
        <child link="link_Hips_P" />
        <axis xyz="0 1 0" />
        <limit effort="100.0000" lower="-3.141592653589793" upper="3.141592653589793" velocity="3.0000" />
        <origin xyz="0 0 0" rpy="0 0 0" />
    </joint>
    <joint name="joint_Hips_Y" type="revolute">
        <parent link="link_Hips_P" />
        <child link="link_Hips_Y" />
        <axis xyz="0 0 1" />
        <limit effort="100.0000" lower="-3.141592653589793" upper="3.141592653589793" velocity="3.0000" />
        <origin xyz="0 0 0" rpy="0 0 0" />
    </joint>
    <joint name="joint_RightUpLeg_R" type="revolute">
        <parent link="link_Hips_Y" />
        <child link="link_RightUpLeg_R" />
        <axis xyz="1 0 0" />
        <limit effort="100.0000" lower="-3.1415926536" upper="3.1415926536" velocity="3.0000" />
        <origin rpy="0.0 0.0 0" xyz="0.110000 0.0 0.0" />
    </joint>
    <joint name="joint_RightUpLeg_P" type="revolute">
        <parent link="link_RightUpLeg_R" />
        <child link="link_RightUpLeg_P" />
        <axis xyz="0 1 0" />
        <limit effort="100.0000" lower="-3.1415926536" upper="3.1415926536" velocity="3.0000" />
        <origin xyz="0 0 0" rpy="0 0 0" />
    </joint>
    <joint name="joint_RightUpLeg_Y" type="revolute">
        <parent link="link_RightUpLeg_P" />
        <child link="link_RightUpLeg_Y" />
        <axis xyz="0 0 1" />
        <limit effort="100.0000" lower="-3.1415926536" upper="3.1415926536" velocity="3.0000" />
        <origin xyz="0 0 0" rpy="0 0 0" />
    </joint>
    <joint name="joint_RightLeg_R" type="revolute">
        <parent link="link_RightUpLeg_Y" />
        <child link="link_RightLeg_R" />
        <axis xyz="1 0 0" />
        <limit effort="100.0000" lower="-3.1415926536" upper="3.1415926536" velocity="3.0000" />
        <origin rpy="0.0 0.0 0.0" xyz="0.0 0.0 -0.450620" />
    </joint>
    <joint name="joint_RightLeg_P" type="revolute">
        <parent link="link_RightLeg_R" />
        <child link="link_RightLeg_P" />
        <axis xyz="0 1 0" />
        <limit effort="100.0000" lower="-3.1415926536" upper="3.1415926536" velocity="3.0000" />
        <origin xyz="0 0 0" rpy="0 0 0" />
    </joint>
    <joint name="joint_RightLeg_Y" type="revolute">
        <parent link="link_RightLeg_P" />
        <child link="link_RightLeg_Y" />
        <axis xyz="0 0 1" />
        <limit effort="100.0000" lower="-3.1415926536" upper="3.1415926536" velocity="3.0000" />
        <origin xyz="0 0 0" rpy="0 0 0" />
    </joint>
    <joint name="joint_RightFoot_R" type="revolute">
        <parent link="link_RightLeg_Y" />
        <child link="link_RightFoot_R" />
        <axis xyz="1 0 0" />
        <limit effort="100.0000" lower="-3.1415926536" upper="3.1415926536" velocity="3.0000" />
        <origin rpy="0 0 0" xyz="0.0 0.0 -0.420580" />
    </joint>
    <joint name="joint_RightFoot_P" type="revolute">
        <parent link="link_RightFoot_R" />
        <child link="link_RightFoot_P" />
        <axis xyz="0 1 0" />
        <limit effort="100.0000" lower="-3.1415926536" upper="3.1415926536" velocity="3.0000" />
        <origin xyz="0 0 0" rpy="0 0 0" />
    </joint>
    <joint name="joint_RightFoot_Y" type="revolute">
        <parent link="link_RightFoot_P" />
        <child link="link_RightFoot_Y" />
        <axis xyz="0 0 1" />
        <limit effort="100.0000" lower="-3.1415926536" upper="3.1415926536" velocity="3.0000" />
        <origin xyz="0 0 0" rpy="0 0 0" />
    </joint>
    <joint name="joint_LeftUpLeg_R" type="revolute">
        <parent link="link_Hips_Y" />
        <child link="link_LeftUpLeg_R" />
        <axis xyz="1 0 0" />
        <limit effort="100.0000" lower="-3.1415926536" upper="3.1415926536" velocity="3.0000" />
        <origin rpy="0.0 0.0 0" xyz="-0.110000 0.0 0.0" />
    </joint>
    <joint name="joint_LeftUpLeg_P" type="revolute">
        <parent link="link_LeftUpLeg_R" />
        <child link="link_LeftUpLeg_P" />
        <axis xyz="0 1 0" />
        <limit effort="100.0000" lower="-3.1415926536" upper="3.1415926536" velocity="3.0000" />
        <origin xyz="0 0 0" rpy="0 0 0" />
    </joint>
    <joint name="joint_LeftUpLeg_Y" type="revolute">
        <parent link="link_LeftUpLeg_P" />
        <child link="link_LeftUpLeg_Y" />
        <axis xyz="0 0 1" />
        <limit effort="100.0000" lower="-3.1415926536" upper="3.1415926536" velocity="3.0000" />
        <origin xyz="0 0 0" rpy="0 0 0" />
    </joint>
    <joint name="joint_LeftLeg_R" type="revolute">
        <parent link="link_LeftUpLeg_Y" />
        <child link="link_LeftLeg_R" />
        <axis xyz="1 0 0" />
        <limit effort="100.0000" lower="-3.1415926536" upper="3.1415926536" velocity="3.0000" />
        <origin rpy="0.0 0.0 0.0" xyz="0.0 0.0 -0.450620" />
    </joint>
    <joint name="joint_LeftLeg_P" type="revolute">
        <parent link="link_LeftLeg_R" />
        <child link="link_LeftLeg_P" />
        <axis xyz="0 1 0" />
        <limit effort="100.0000" lower="-3.1415926536" upper="3.1415926536" velocity="3.0000" />
        <origin xyz="0 0 0" rpy="0 0 0" />
    </joint>
    <joint name="joint_LeftLeg_Y" type="revolute">
        <parent link="link_LeftLeg_P" />
        <child link="link_LeftLeg_Y" />
        <axis xyz="0 0 1" />
        <limit effort="100.0000" lower="-3.1415926536" upper="3.1415926536" velocity="3.0000" />
        <origin xyz="0 0 0" rpy="0 0 0" />
    </joint>
    <joint name="joint_LeftFoot_R" type="revolute">
        <parent link="link_LeftLeg_Y" />
        <child link="link_LeftFoot_R" />
        <axis xyz="1 0 0" />
        <limit effort="100.0000" lower="-3.1415926536" upper="3.1415926536" velocity="3.0000" />
        <origin rpy="0 0 0" xyz="0.0 0.0 -0.420580" />
    </joint>
    <joint name="joint_LeftFoot_P" type="revolute">
        <parent link="link_LeftFoot_R" />
        <child link="link_LeftFoot_P" />
        <axis xyz="0 1 0" />
        <limit effort="100.0000" lower="-3.1415926536" upper="3.1415926536" velocity="3.0000" />
        <origin xyz="0 0 0" rpy="0 0 0" />
    </joint>
    <joint name="joint_LeftFoot_Y" type="revolute">
        <parent link="link_LeftFoot_P" />
        <child link="link_LeftFoot_Y" />
        <axis xyz="0 0 1" />
        <limit effort="100.0000" lower="-3.1415926536" upper="3.1415926536" velocity="3.0000" />
        <origin xyz="0 0 0" rpy="0 0 0" />
    </joint>
    <joint name="joint_Spine_R" type="revolute">
        <parent link="link_Hips_Y" />
        <child link="link_Spine_R" />
        <axis xyz="1 0 0" />
        <limit effort="100.0000" lower="-3.1415926536" upper="3.1415926536" velocity="3.0000" />
        <origin rpy="0.0 0.0 0.0" xyz="0.0 0.0 0.08" />
    </joint>
    <joint name="joint_Spine_P" type="revolute">
        <parent link="link_Spine_R" />
        <child link="link_Spine_P" />
        <axis xyz="0 1 0" />
        <limit effort="100.0000" lower="-3.1415926536" upper="3.1415926536" velocity="3.0000" />
        <origin xyz="0 0 0" rpy="0 0 0" />
    </joint>
    <joint name="joint_Spine_Y" type="revolute">
        <parent link="link_Spine_P" />
        <child link="link_Spine_Y" />
        <axis xyz="0 0 1" />
        <limit effort="100.0000" lower="-3.1415926536" upper="3.1415926536" velocity="3.0000" />
        <origin xyz="0 0 0" rpy="0 0 0" />
    </joint>
    <joint name="joint_Spine1_R" type="revolute">
        <parent link="link_Spine_Y" />
        <child link="link_Spine1_R" />
        <axis xyz="1 0 0" />
        <limit effort="100.0000" lower="-3.1415926536" upper="3.1415926536" velocity="3.0000" />
        <origin rpy="0.0 0.0 0.0" xyz="0.0 0.0 0.08" />
    </joint>
    <joint name="joint_Spine1_P" type="revolute">
        <parent link="link_Spine1_R" />
        <child link="link_Spine1_P" />
        <axis xyz="0 1 0" />
        <limit effort="100.0000" lower="-3.1415926536" upper="3.1415926536" velocity="3.0000" />
        <origin xyz="0 0 0" rpy="0 0 0" />
    </joint>
    <joint name="joint_Spine1_Y" type="revolute">
        <parent link="link_Spine1_P" />
        <child link="link_Spine1_Y" />
        <axis xyz="0 0 1" />
        <limit effort="100.0000" lower="-3.1415926536" upper="3.1415926536" velocity="3.0000" />
        <origin xyz="0 0 0" rpy="0 0 0" />
    </joint>
    <joint name="joint_Spine2_R" type="revolute">
        <parent link="link_Spine1_Y" />
        <child link="link_Spine2_R" />
        <axis xyz="1 0 0" />
        <limit effort="100.0000" lower="-3.1415926536" upper="3.1415926536" velocity="3.0000" />
        <origin rpy="0.0 0.0 0.0" xyz="0.0 0.0 0.127600" />
    </joint>
    <joint name="joint_Spine2_P" type="revolute">
        <parent link="link_Spine2_R" />
        <child link="link_Spine2_P" />
        <axis xyz="0 1 0" />
        <limit effort="100.0000" lower="-3.1415926536" upper="3.1415926536" velocity="3.0000" />
        <origin xyz="0 0 0" rpy="0 0 0" />
    </joint>
    <joint name="joint_Spine2_Y" type="revolute">
        <parent link="link_Spine2_P" />
        <child link="link_Spine2_Y" />
        <axis xyz="0 0 1" />
        <limit effort="100.0000" lower="-3.1415926536" upper="3.1415926536" velocity="3.0000" />
        <origin xyz="0 0 0" rpy="0 0 0" />
    </joint>
    <joint name="joint_Neck_R" type="revolute">
        <parent link="link_Spine2_Y" />
        <child link="link_Neck_R" />
        <axis xyz="1 0 0" />
        <limit effort="100.0000" lower="-3.1415926536" upper="3.1415926536" velocity="3.0000" />
        <origin rpy="0.0 0.0 0.0" xyz="0.0 0.0 0.191400" />
    </joint>
    <joint name="joint_Neck_P" type="revolute">
        <parent link="link_Neck_R" />
        <child link="link_Neck_P" />
        <axis xyz="0 1 0" />
        <limit effort="100.0000" lower="-3.1415926536" upper="3.1415926536" velocity="3.0000" />
        <origin xyz="0 0 0" rpy="0 0 0" />
    </joint>
    <joint name="joint_Neck_Y" type="revolute">
        <parent link="link_Neck_P" />
        <child link="link_Neck_Y" />
        <axis xyz="0 0 1" />
        <limit effort="100.0000" lower="-3.1415926536" upper="3.1415926536" velocity="3.0000" />
        <origin xyz="0 0 0" rpy="0 0 0" />
    </joint>
    <joint name="joint_Neck1_R" type="revolute">
        <parent link="link_Neck_Y" />
        <child link="link_Neck1_R" />
        <axis xyz="1 0 0" />
        <limit effort="100.0000" lower="-3.1415926536" upper="3.1415926536" velocity="3.0000" />
        <origin rpy="0.0 0.0 0.0" xyz="0.0 0.0 0.042500" />
    </joint>
    <joint name="joint_Neck1_P" type="revolute">
        <parent link="link_Neck1_R" />
        <child link="link_Neck1_P" />
        <axis xyz="0 1 0" />
        <limit effort="100.0000" lower="-3.1415926536" upper="3.1415926536" velocity="3.0000" />
        <origin xyz="0 0 0" rpy="0 0 0" />
    </joint>
    <joint name="joint_Neck1_Y" type="revolute">
        <parent link="link_Neck1_P" />
        <child link="link_Neck1_Y" />
        <axis xyz="0 0 1" />
        <limit effort="100.0000" lower="-3.1415926536" upper="3.1415926536" velocity="3.0000" />
        <origin xyz="0 0 0" rpy="0 0 0" />
    </joint>
    <joint name="joint_Head_R" type="revolute">
        <parent link="link_Neck1_Y" />
        <child link="link_Head_R" />
        <axis xyz="1 0 0" />
        <limit effort="100.0000" lower="-3.1415926536" upper="3.1415926536" velocity="3.0000" />
        <origin rpy="0.0 0.0 0.0" xyz="0.0 0.0 0.042500" />
    </joint>
    <joint name="joint_Head_P" type="revolute">
        <parent link="link_Head_R" />
        <child link="link_Head_P" />
        <axis xyz="0 1 0" />
        <limit effort="100.0000" lower="-3.1415926536" upper="3.1415926536" velocity="3.0000" />
        <origin xyz="0 0 0" rpy="0 0 0" />
    </joint>
    <joint name="joint_Head_Y" type="revolute">
        <parent link="link_Head_P" />
        <child link="link_Head_Y" />
        <axis xyz="0 0 1" />
        <limit effort="100.0000" lower="-3.1415926536" upper="3.1415926536" velocity="3.0000" />
        <origin xyz="0 0 0" rpy="0 0 0" />
    </joint>
    <joint name="joint_RightShoulder_R" type="revolute">
        <parent link="link_Spine2_Y" />
        <child link="link_RightShoulder_R" />
        <axis xyz="1 0 0" />
        <limit effort="100.0000" lower="-3.1415926536" upper="3.1415926536" velocity="3.0000" />
        <origin rpy="0.0 0.0 0" xyz="0.029000 0.0 0.133400" />
    </joint>
    <joint name="joint_RightShoulder_P" type="revolute">
        <parent link="link_RightShoulder_R" />
        <child link="link_RightShoulder_P" />
        <axis xyz="0 1 0" />
        <limit effort="100.0000" lower="-3.1415926536" upper="3.1415926536" velocity="3.0000" />
        <origin xyz="0 0 0" rpy="0 0 0" />
    </joint>
    <joint name="joint_RightShoulder_Y" type="revolute">
        <parent link="link_RightShoulder_P" />
        <child link="link_RightShoulder_Y" />
        <axis xyz="0 0 1" />
        <limit effort="100.0000" lower="-3.1415926536" upper="3.1415926536" velocity="3.0000" />
        <origin xyz="0 0 0" rpy="0 0 0" />
    </joint>
    <joint name="joint_RightArm_R" type="revolute">
        <parent link="link_RightShoulder_Y" />
        <child link="link_RightArm_R" />
        <axis xyz="1 0 0" />
        <limit effort="100.0000" lower="-3.1415926536" upper="3.1415926536" velocity="3.0000" />
        <origin rpy="0.0 0.0 0.0" xyz="0.161000 0.0 0.0" />
    </joint>
    <joint name="joint_RightArm_P" type="revolute">
        <parent link="link_RightArm_R" />
        <child link="link_RightArm_P" />
        <axis xyz="0 1 0" />
        <limit effort="100.0000" lower="-3.1415926536" upper="3.1415926536" velocity="3.0000" />
        <origin xyz="0 0 0" rpy="0 0 0" />
    </joint>
    <joint name="joint_RightArm_Y" type="revolute">
        <parent link="link_RightArm_P" />
        <child link="link_RightArm_Y" />
        <axis xyz="0 0 1" />
        <limit effort="100.0000" lower="-3.1415926536" upper="3.1415926536" velocity="3.0000" />
        <origin xyz="0 0 0" rpy="0 0 0" />
    </joint>
    <joint name="joint_RightForeArm_R" type="revolute">
        <parent link="link_RightArm_Y" />
        <child link="link_RightForeArm_R" />
        <axis xyz="1 0 0" />
        <limit effort="100.0000" lower="-3.1415926536" upper="3.1415926536" velocity="3.0000" />
        <origin rpy="0.0 0.0 0.0" xyz="0.0 0.0 -0.280000" />
    </joint>
    <joint name="joint_RightForeArm_P" type="revolute">
        <parent link="link_RightForeArm_R" />
        <child link="link_RightForeArm_P" />
        <axis xyz="0 1 0" />
        <limit effort="100.0000" lower="-3.1415926536" upper="3.1415926536" velocity="3.0000" />
        <origin xyz="0 0 0" rpy="0 0 0" />
    </joint>
    <joint name="joint_RightForeArm_Y" type="revolute">
        <parent link="link_RightForeArm_P" />
        <child link="link_RightForeArm_Y" />
        <axis xyz="0 0 1" />
        <limit effort="100.0000" lower="-3.1415926536" upper="3.1415926536" velocity="3.0000" />
        <origin xyz="0 0 0" rpy="0 0 0" />
    </joint>
    <joint name="joint_RightHand_R" type="revolute">
        <parent link="link_RightForeArm_Y" />
        <child link="link_RightHand_R" />
        <axis xyz="1 0 0" />
        <limit effort="100.0000" lower="-3.1415926536" upper="3.1415926536" velocity="3.0000" />
        <origin rpy="0 0 0" xyz="0.0 0.0 -0.260000" />
    </joint>
    <joint name="joint_RightHand_P" type="revolute">
        <parent link="link_RightHand_R" />
        <child link="link_RightHand_P" />
        <axis xyz="0 1 0" />
        <limit effort="100.0000" lower="-3.1415926536" upper="3.1415926536" velocity="3.0000" />
        <origin xyz="0 0 0" rpy="0 0 0" />
    </joint>
    <joint name="joint_RightHand_Y" type="revolute">
        <parent link="link_RightHand_P" />
        <child link="link_RightHand_Y" />
        <axis xyz="0 0 1" />
        <limit effort="100.0000" lower="-3.1415926536" upper="3.1415926536" velocity="3.0000" />
        <origin xyz="0 0 0" rpy="0 0 0" />
    </joint>
    <joint name="joint_RightHandThumb1_R" type="revolute">
        <parent link="link_RightHand_Y" />
        <child link="link_RightHandThumb1_R" />
        <axis xyz="1 0 0" />
        <limit effort="100.0000" lower="-3.1415926536" upper="3.1415926536" velocity="3.0000" />
        <origin rpy="0 0 0" xyz="-0.002290 0.020847 -0.024347" />
    </joint>
    <joint name="joint_RightHandThumb1_P" type="revolute">
        <parent link="link_RightHandThumb1_R" />
        <child link="link_RightHandThumb1_P" />
        <axis xyz="0 1 0" />
        <limit effort="100.0000" lower="-3.1415926536" upper="3.1415926536" velocity="3.0000" />
        <origin xyz="0 0 0" rpy="0 0 0" />
    </joint>
    <joint name="joint_RightHandThumb1_Y" type="revolute">
        <parent link="link_RightHandThumb1_P" />
        <child link="link_RightHandThumb1_Y" />
        <axis xyz="0 0 1" />
        <limit effort="100.0000" lower="-3.1415926536" upper="3.1415926536" velocity="3.0000" />
        <origin xyz="0 0 0" rpy="0 0 0" />
    </joint>
    <joint name="joint_RightHandThumb2_R" type="revolute">
        <parent link="link_RightHandThumb1_Y" />
        <child link="link_RightHandThumb2_R" />
        <axis xyz="1 0 0" />
        <limit effort="100.0000" lower="-3.1415926536" upper="3.1415926536" velocity="3.0000" />
        <origin rpy="0 0 0" xyz="0.0 0.0 -0.038720" />
    </joint>
    <joint name="joint_RightHandThumb2_P" type="revolute">
        <parent link="link_RightHandThumb2_R" />
        <child link="link_RightHandThumb2_P" />
        <axis xyz="0 1 0" />
        <limit effort="100.0000" lower="-3.1415926536" upper="3.1415926536" velocity="3.0000" />
        <origin xyz="0 0 0" rpy="0 0 0" />
    </joint>
    <joint name="joint_RightHandThumb2_Y" type="revolute">
        <parent link="link_RightHandThumb2_P" />
        <child link="link_RightHandThumb2_Y" />
        <axis xyz="0 0 1" />
        <limit effort="100.0000" lower="-3.1415926536" upper="3.1415926536" velocity="3.0000" />
        <origin xyz="0 0 0" rpy="0 0 0" />
    </joint>
    <joint name="joint_RightHandThumb3_R" type="revolute">
        <parent link="link_RightHandThumb2_Y" />
        <child link="link_RightHandThumb3_R" />
        <axis xyz="1 0 0" />
        <limit effort="100.0000" lower="-3.1415926536" upper="3.1415926536" velocity="3.0000" />
        <origin rpy="0 0 0" xyz="0.0 0.0 -0.026900" />
    </joint>
    <joint name="joint_RightHandThumb3_P" type="revolute">
        <parent link="link_RightHandThumb3_R" />
        <child link="link_RightHandThumb3_P" />
        <axis xyz="0 1 0" />
        <limit effort="100.0000" lower="-3.1415926536" upper="3.1415926536" velocity="3.0000" />
        <origin xyz="0 0 0" rpy="0 0 0" />
    </joint>
    <joint name="joint_RightHandThumb3_Y" type="revolute">
        <parent link="link_RightHandThumb3_P" />
        <child link="link_RightHandThumb3_Y" />
        <axis xyz="0 0 1" />
        <limit effort="100.0000" lower="-3.1415926536" upper="3.1415926536" velocity="3.0000" />
        <origin xyz="0 0 0" rpy="0 0 0" />
    </joint>
    <joint name="joint_RightInHandIndex_R" type="revolute">
        <parent link="link_RightHand_Y" />
        <child link="link_RightInHandIndex_R" />
        <axis xyz="1 0 0" />
        <limit effort="100.0000" lower="-3.1415926536" upper="3.1415926536" velocity="3.0000" />
        <origin rpy="0 0 0" xyz="0.004337 0.011103 -0.038311" />
    </joint>
    <joint name="joint_RightInHandIndex_P" type="revolute">
        <parent link="link_RightInHandIndex_R" />
        <child link="link_RightInHandIndex_P" />
        <axis xyz="0 1 0" />
        <limit effort="100.0000" lower="-3.1415926536" upper="3.1415926536" velocity="3.0000" />
        <origin xyz="0 0 0" rpy="0 0 0" />
    </joint>
    <joint name="joint_RightInHandIndex_Y" type="revolute">
        <parent link="link_RightInHandIndex_P" />
        <child link="link_RightInHandIndex_Y" />
        <axis xyz="0 0 1" />
        <limit effort="100.0000" lower="-3.1415926536" upper="3.1415926536" velocity="3.0000" />
        <origin xyz="0 0 0" rpy="0 0 0" />
    </joint>
    <joint name="joint_RightHandIndex1_R" type="revolute">
        <parent link="link_RightInHandIndex_Y" />
        <child link="link_RightHandIndex1_R" />
        <axis xyz="1 0 0" />
        <limit effort="100.0000" lower="-3.1415926536" upper="3.1415926536" velocity="3.0000" />
        <origin rpy="0 0 0" xyz="0.0 -0.0 -0.055856" />
    </joint>
    <joint name="joint_RightHandIndex1_P" type="revolute">
        <parent link="link_RightHandIndex1_R" />
        <child link="link_RightHandIndex1_P" />
        <axis xyz="0 1 0" />
        <limit effort="100.0000" lower="-3.1415926536" upper="3.1415926536" velocity="3.0000" />
        <origin xyz="0 0 0" rpy="0 0 0" />
    </joint>
    <joint name="joint_RightHandIndex1_Y" type="revolute">
        <parent link="link_RightHandIndex1_P" />
        <child link="link_RightHandIndex1_Y" />
        <axis xyz="0 0 1" />
        <limit effort="100.0000" lower="-3.1415926536" upper="3.1415926536" velocity="3.0000" />
        <origin xyz="0 0 0" rpy="0 0 0" />
    </joint>
    <joint name="joint_RightHandIndex2_R" type="revolute">
        <parent link="link_RightHandIndex1_Y" />
        <child link="link_RightHandIndex2_R" />
        <axis xyz="1 0 0" />
        <limit effort="100.0000" lower="-3.1415926536" upper="3.1415926536" velocity="3.0000" />
        <origin rpy="0.0 0.0 -0.0" xyz="0.0 -0.0 -0.038060" />
    </joint>
    <joint name="joint_RightHandIndex2_P" type="revolute">
        <parent link="link_RightHandIndex2_R" />
        <child link="link_RightHandIndex2_P" />
        <axis xyz="0 1 0" />
        <limit effort="100.0000" lower="-3.1415926536" upper="3.1415926536" velocity="3.0000" />
        <origin xyz="0 0 0" rpy="0 0 0" />
    </joint>
    <joint name="joint_RightHandIndex2_Y" type="revolute">
        <parent link="link_RightHandIndex2_P" />
        <child link="link_RightHandIndex2_Y" />
        <axis xyz="0 0 1" />
        <limit effort="100.0000" lower="-3.1415926536" upper="3.1415926536" velocity="3.0000" />
        <origin xyz="0 0 0" rpy="0 0 0" />
    </joint>
    <joint name="joint_RightHandIndex3_R" type="revolute">
        <parent link="link_RightHandIndex2_Y" />
        <child link="link_RightHandIndex3_R" />
        <axis xyz="1 0 0" />
        <limit effort="100.0000" lower="-3.1415926536" upper="3.1415926536" velocity="3.0000" />
        <origin rpy="0.0 0.0 0.0" xyz="0.0 -0.0 -0.021580" />
    </joint>
    <joint name="joint_RightHandIndex3_P" type="revolute">
        <parent link="link_RightHandIndex3_R" />
        <child link="link_RightHandIndex3_P" />
        <axis xyz="0 1 0" />
        <limit effort="100.0000" lower="-3.1415926536" upper="3.1415926536" velocity="3.0000" />
        <origin xyz="0 0 0" rpy="0 0 0" />
    </joint>
    <joint name="joint_RightHandIndex3_Y" type="revolute">
        <parent link="link_RightHandIndex3_P" />
        <child link="link_RightHandIndex3_Y" />
        <axis xyz="0 0 1" />
        <limit effort="100.0000" lower="-3.1415926536" upper="3.1415926536" velocity="3.0000" />
        <origin xyz="0 0 0" rpy="0 0 0" />
    </joint>
    <joint name="joint_RightInHandMiddle_R" type="revolute">
        <parent link="link_RightHand_Y" />
        <child link="link_RightInHandMiddle_R" />
        <axis xyz="1 0 0" />
        <limit effort="100.0000" lower="-3.1415926536" upper="3.1415926536" velocity="3.0000" />
        <origin rpy="0 0 0" xyz="0.001414 -0.001419 -0.036789" />
    </joint>
    <joint name="joint_RightInHandMiddle_P" type="revolute">
        <parent link="link_RightInHandMiddle_R" />
        <child link="link_RightInHandMiddle_P" />
        <axis xyz="0 1 0" />
        <limit effort="100.0000" lower="-3.1415926536" upper="3.1415926536" velocity="3.0000" />
        <origin xyz="0 0 0" rpy="0 0 0" />
    </joint>
    <joint name="joint_RightInHandMiddle_Y" type="revolute">
        <parent link="link_RightInHandMiddle_P" />
        <child link="link_RightInHandMiddle_Y" />
        <axis xyz="0 0 1" />
        <limit effort="100.0000" lower="-3.1415926536" upper="3.1415926536" velocity="3.0000" />
        <origin xyz="0 0 0" rpy="0 0 0" />
    </joint>
    <joint name="joint_RightHandMiddle1_R" type="revolute">
        <parent link="link_RightInHandMiddle_Y" />
        <child link="link_RightHandMiddle1_R" />
        <axis xyz="1 0 0" />
        <limit effort="100.0000" lower="-3.1415926536" upper="3.1415926536" velocity="3.0000" />
        <origin rpy="0 0 0" xyz="0.0 0.0 -0.054517" />
    </joint>
    <joint name="joint_RightHandMiddle1_P" type="revolute">
        <parent link="link_RightHandMiddle1_R" />
        <child link="link_RightHandMiddle1_P" />
        <axis xyz="0 1 0" />
        <limit effort="100.0000" lower="-3.1415926536" upper="3.1415926536" velocity="3.0000" />
        <origin xyz="0 0 0" rpy="0 0 0" />
    </joint>
    <joint name="joint_RightHandMiddle1_Y" type="revolute">
        <parent link="link_RightHandMiddle1_P" />
        <child link="link_RightHandMiddle1_Y" />
        <axis xyz="0 0 1" />
        <limit effort="100.0000" lower="-3.1415926536" upper="3.1415926536" velocity="3.0000" />
        <origin xyz="0 0 0" rpy="0 0 0" />
    </joint>
    <joint name="joint_RightHandMiddle2_R" type="revolute">
        <parent link="link_RightHandMiddle1_Y" />
        <child link="link_RightHandMiddle2_R" />
        <axis xyz="1 0 0" />
        <limit effort="100.0000" lower="-3.1415926536" upper="3.1415926536" velocity="3.0000" />
        <origin rpy="0.0 0.0 0.0" xyz="0.0 -0.0 -0.041530" />
    </joint>
    <joint name="joint_RightHandMiddle2_P" type="revolute">
        <parent link="link_RightHandMiddle2_R" />
        <child link="link_RightHandMiddle2_P" />
        <axis xyz="0 1 0" />
        <limit effort="100.0000" lower="-3.1415926536" upper="3.1415926536" velocity="3.0000" />
        <origin xyz="0 0 0" rpy="0 0 0" />
    </joint>
    <joint name="joint_RightHandMiddle2_Y" type="revolute">
        <parent link="link_RightHandMiddle2_P" />
        <child link="link_RightHandMiddle2_Y" />
        <axis xyz="0 0 1" />
        <limit effort="100.0000" lower="-3.1415926536" upper="3.1415926536" velocity="3.0000" />
        <origin xyz="0 0 0" rpy="0 0 0" />
    </joint>
    <joint name="joint_RightHandMiddle3_R" type="revolute">
        <parent link="link_RightHandMiddle2_Y" />
        <child link="link_RightHandMiddle3_R" />
        <axis xyz="1 0 0" />
        <limit effort="100.0000" lower="-3.1415926536" upper="3.1415926536" velocity="3.0000" />
        <origin rpy="0.0 0.0 0.0" xyz="0.0 -0.0 -0.026030" />
    </joint>
    <joint name="joint_RightHandMiddle3_P" type="revolute">
        <parent link="link_RightHandMiddle3_R" />
        <child link="link_RightHandMiddle3_P" />
        <axis xyz="0 1 0" />
        <limit effort="100.0000" lower="-3.1415926536" upper="3.1415926536" velocity="3.0000" />
        <origin xyz="0 0 0" rpy="0 0 0" />
    </joint>
    <joint name="joint_RightHandMiddle3_Y" type="revolute">
        <parent link="link_RightHandMiddle3_P" />
        <child link="link_RightHandMiddle3_Y" />
        <axis xyz="0 0 1" />
        <limit effort="100.0000" lower="-3.1415926536" upper="3.1415926536" velocity="3.0000" />
        <origin xyz="0 0 0" rpy="0 0 0" />
    </joint>
    <joint name="joint_RightInHandRing_R" type="revolute">
        <parent link="link_RightHand_Y" />
        <child link="link_RightInHandRing_R" />
        <axis xyz="1 0 0" />
        <limit effort="100.0000" lower="-3.1415926536" upper="3.1415926536" velocity="3.0000" />
        <origin rpy="0 0 0" xyz="-0.000343 -0.010250 -0.034368" />
    </joint>
    <joint name="joint_RightInHandRing_P" type="revolute">
        <parent link="link_RightInHandRing_R" />
        <child link="link_RightInHandRing_P" />
        <axis xyz="0 1 0" />
        <limit effort="100.0000" lower="-3.1415926536" upper="3.1415926536" velocity="3.0000" />
        <origin xyz="0 0 0" rpy="0 0 0" />
    </joint>
    <joint name="joint_RightInHandRing_Y" type="revolute">
        <parent link="link_RightInHandRing_P" />
        <child link="link_RightInHandRing_Y" />
        <axis xyz="0 0 1" />
        <limit effort="100.0000" lower="-3.1415926536" upper="3.1415926536" velocity="3.0000" />
        <origin xyz="0 0 0" rpy="0 0 0" />
    </joint>
    <joint name="joint_RightHandRing1_R" type="revolute">
        <parent link="link_RightInHandRing_Y" />
        <child link="link_RightHandRing1_R" />
        <axis xyz="1 0 0" />
        <limit effort="100.0000" lower="-3.1415926536" upper="3.1415926536" velocity="3.0000" />
        <origin rpy="0 0 0" xyz="0.0 0.0 -0.048991" />
    </joint>
    <joint name="joint_RightHandRing1_P" type="revolute">
        <parent link="link_RightHandRing1_R" />
        <child link="link_RightHandRing1_P" />
        <axis xyz="0 1 0" />
        <limit effort="100.0000" lower="-3.1415926536" upper="3.1415926536" velocity="3.0000" />
        <origin xyz="0 0 0" rpy="0 0 0" />
    </joint>
    <joint name="joint_RightHandRing1_Y" type="revolute">
        <parent link="link_RightHandRing1_P" />
        <child link="link_RightHandRing1_Y" />
        <axis xyz="0 0 1" />
        <limit effort="100.0000" lower="-3.1415926536" upper="3.1415926536" velocity="3.0000" />
        <origin xyz="0 0 0" rpy="0 0 0" />
    </joint>
    <joint name="joint_RightHandRing2_R" type="revolute">
        <parent link="link_RightHandRing1_Y" />
        <child link="link_RightHandRing2_R" />
        <axis xyz="1 0 0" />
        <limit effort="100.0000" lower="-3.1415926536" upper="3.1415926536" velocity="3.0000" />
        <origin rpy="0.0 0.0 0.0" xyz="0.0 -0.0 -0.036190" />
    </joint>
    <joint name="joint_RightHandRing2_P" type="revolute">
        <parent link="link_RightHandRing2_R" />
        <child link="link_RightHandRing2_P" />
        <axis xyz="0 1 0" />
        <limit effort="100.0000" lower="-3.1415926536" upper="3.1415926536" velocity="3.0000" />
        <origin xyz="0 0 0" rpy="0 0 0" />
    </joint>
    <joint name="joint_RightHandRing2_Y" type="revolute">
        <parent link="link_RightHandRing2_P" />
        <child link="link_RightHandRing2_Y" />
        <axis xyz="0 0 1" />
        <limit effort="100.0000" lower="-3.1415926536" upper="3.1415926536" velocity="3.0000" />
        <origin xyz="0 0 0" rpy="0 0 0" />
    </joint>
    <joint name="joint_RightHandRing3_R" type="revolute">
        <parent link="link_RightHandRing2_Y" />
        <child link="link_RightHandRing3_R" />
        <axis xyz="1 0 0" />
        <limit effort="100.0000" lower="-3.1415926536" upper="3.1415926536" velocity="3.0000" />
        <origin rpy="0.0 0.0 0.0" xyz="0.0 -0.0 -0.025110" />
    </joint>
    <joint name="joint_RightHandRing3_P" type="revolute">
        <parent link="link_RightHandRing3_R" />
        <child link="link_RightHandRing3_P" />
        <axis xyz="0 1 0" />
        <limit effort="100.0000" lower="-3.1415926536" upper="3.1415926536" velocity="3.0000" />
        <origin xyz="0 0 0" rpy="0 0 0" />
    </joint>
    <joint name="joint_RightHandRing3_Y" type="revolute">
        <parent link="link_RightHandRing3_P" />
        <child link="link_RightHandRing3_Y" />
        <axis xyz="0 0 1" />
        <limit effort="100.0000" lower="-3.1415926536" upper="3.1415926536" velocity="3.0000" />
        <origin xyz="0 0 0" rpy="0 0 0" />
    </joint>
    <joint name="joint_RightInHandPinky_R" type="revolute">
        <parent link="link_RightHand_Y" />
        <child link="link_RightInHandPinky_R" />
        <axis xyz="1 0 0" />
        <limit effort="100.0000" lower="-3.1415926536" upper="3.1415926536" velocity="3.0000" />
        <origin rpy="0 0 0" xyz="-0.003119 -0.020281 -0.029462" />
    </joint>
    <joint name="joint_RightInHandPinky_P" type="revolute">
        <parent link="link_RightInHandPinky_R" />
        <child link="link_RightInHandPinky_P" />
        <axis xyz="0 1 0" />
        <limit effort="100.0000" lower="-3.1415926536" upper="3.1415926536" velocity="3.0000" />
        <origin xyz="0 0 0" rpy="0 0 0" />
    </joint>
    <joint name="joint_RightInHandPinky_Y" type="revolute">
        <parent link="link_RightInHandPinky_P" />
        <child link="link_RightInHandPinky_Y" />
        <axis xyz="0 0 1" />
        <limit effort="100.0000" lower="-3.1415926536" upper="3.1415926536" velocity="3.0000" />
        <origin xyz="0 0 0" rpy="0 0 0" />
    </joint>
    <joint name="joint_RightHandPinky1_R" type="revolute">
        <parent link="link_RightInHandPinky_Y" />
        <child link="link_RightHandPinky1_R" />
        <axis xyz="1 0 0" />
        <limit effort="100.0000" lower="-3.1415926536" upper="3.1415926536" velocity="3.0000" />
        <origin rpy="0 0 0" xyz="0.0 0.0 -0.045026" />
    </joint>
    <joint name="joint_RightHandPinky1_P" type="revolute">
        <parent link="link_RightHandPinky1_R" />
        <child link="link_RightHandPinky1_P" />
        <axis xyz="0 1 0" />
        <limit effort="100.0000" lower="-3.1415926536" upper="3.1415926536" velocity="3.0000" />
        <origin xyz="0 0 0" rpy="0 0 0" />
    </joint>
    <joint name="joint_RightHandPinky1_Y" type="revolute">
        <parent link="link_RightHandPinky1_P" />
        <child link="link_RightHandPinky1_Y" />
        <axis xyz="0 0 1" />
        <limit effort="100.0000" lower="-3.1415926536" upper="3.1415926536" velocity="3.0000" />
        <origin xyz="0 0 0" rpy="0 0 0" />
    </joint>
    <joint name="joint_RightHandPinky2_R" type="revolute">
        <parent link="link_RightHandPinky1_Y" />
        <child link="link_RightHandPinky2_R" />
        <axis xyz="1 0 0" />
        <limit effort="100.0000" lower="-3.1415926536" upper="3.1415926536" velocity="3.0000" />
        <origin rpy="0.0 0.0 -0.0" xyz="0.0 -0.0 -0.028980" />
    </joint>
    <joint name="joint_RightHandPinky2_P" type="revolute">
        <parent link="link_RightHandPinky2_R" />
        <child link="link_RightHandPinky2_P" />
        <axis xyz="0 1 0" />
        <limit effort="100.0000" lower="-3.1415926536" upper="3.1415926536" velocity="3.0000" />
        <origin xyz="0 0 0" rpy="0 0 0" />
    </joint>
    <joint name="joint_RightHandPinky2_Y" type="revolute">
        <parent link="link_RightHandPinky2_P" />
        <child link="link_RightHandPinky2_Y" />
        <axis xyz="0 0 1" />
        <limit effort="100.0000" lower="-3.1415926536" upper="3.1415926536" velocity="3.0000" />
        <origin xyz="0 0 0" rpy="0 0 0" />
    </joint>
    <joint name="joint_RightHandPinky3_R" type="revolute">
        <parent link="link_RightHandPinky2_Y" />
        <child link="link_RightHandPinky3_R" />
        <axis xyz="1 0 0" />
        <limit effort="100.0000" lower="-3.1415926536" upper="3.1415926536" velocity="3.0000" />
        <origin rpy="0.0 0.0 0.0" xyz="0.0 -0.0 -0.018310" />
    </joint>
    <joint name="joint_RightHandPinky3_P" type="revolute">
        <parent link="link_RightHandPinky3_R" />
        <child link="link_RightHandPinky3_P" />
        <axis xyz="0 1 0" />
        <limit effort="100.0000" lower="-3.1415926536" upper="3.1415926536" velocity="3.0000" />
        <origin xyz="0 0 0" rpy="0 0 0" />
    </joint>
    <joint name="joint_RightHandPinky3_Y" type="revolute">
        <parent link="link_RightHandPinky3_P" />
        <child link="link_RightHandPinky3_Y" />
        <axis xyz="0 0 1" />
        <limit effort="100.0000" lower="-3.1415926536" upper="3.1415926536" velocity="3.0000" />
        <origin xyz="0 0 0" rpy="0 0 0" />
    </joint>
    
    <joint name="joint_RightSkeletonBase" type="fixed">link
        <parent link="link_RightHand_Y" />
        <child link="link_RightSkeletonBase" />
        <axis xyz="0 1 0" />
        <limit effort="100.0000" lower="-3.1415926536" upper="3.1415926536" velocity="3.0000" />
        <origin xyz="0.02 0 -0.1" rpy="-1.5707963268 0 -1.5707963268" />
    </joint>
    <!-- <joint name="joint_RightMarker" type="fixed">
        <origin xyz="0.0097906 -0.039958 0.0172" rpy="0 0 1.4509" />
    <parent link="link_RightSkeletonBase" />
    <child link="link_RightMarker" />
    <axis xyz="0 0 0" />
  </joint> -->
  <joint name="joint_RightSkeletonThumbBase" type="revolute">
    <origin xyz="-0.040994 -0.053404 -0.015" rpy="-3.1416 0 2.1405" />
    <parent link="link_RightSkeletonBase" />
    <child link="link_RightSkeletonThumbBase" />
    <axis xyz="1 0 0" />
    <limit lower="-3.14" upper="3.14" effort="100" velocity="1" />
  </joint>
    <joint name="joint_RightSkeletonThumb1" type="revolute">
        <origin xyz="-0.0085 -0.006 0.01972" rpy="1.5708 1.5708 0" />
    <parent link="link_RightSkeletonThumbBase" />
    <child link="link_RightSkeletonThumb1" />
    <axis xyz="0 0 1" />
    <limit lower="-3.14" upper="3.14" effort="100" velocity="1" />
  </joint>
    <joint name="joint_RightSkeletonThumb2" type="revolute">
        <origin xyz="0.0026 0.0062204 0.0071414" rpy="-1.1345 0 0" />
    <parent link="link_RightSkeletonThumb1" />
    <child link="link_RightSkeletonThumb2" />
    <axis xyz="1 0 0" />
    <limit lower="-3.14" upper="3.14" effort="100" velocity="1" />
  </joint>
    <joint name="joint_RightSkeletonThumb3" type="revolute">
        <origin xyz="0 0.050552 0.068334" rpy="-0.81433 0 0" />
    <parent link="link_RightSkeletonThumb2" />
    <child link="link_RightSkeletonThumb3" />
    <axis xyz="1 0 0" />
    <limit lower="-3.14" upper="3.14" effort="100" velocity="1" />
  </joint>
    <joint name="joint_RightSkeletonThumb4" type="revolute">
        <origin xyz="0 0.0080746 0.045794" rpy="2.5307 0 0" />
    <parent link="link_RightSkeletonThumb3" />
    <child link="link_RightSkeletonThumb4" />
    <axis xyz="1 0 0" />
    <limit lower="0" upper="0" effort="0" velocity="0" />
  </joint>
    <joint name="joint_RightSkeletonIndex1" type="revolute">
        <origin xyz="-0.022 0.0026506 -0.0019547" rpy="-0.023349 -0.26078 -0.029576" />
    <parent link="link_RightSkeletonBase" />
    <child link="link_RightSkeletonIndex1" />
    <axis xyz="0 0 1" />
    <limit lower="0" upper="0" effort="0" velocity="0" />
  </joint>
    <joint name="joint_RightSkeletonIndex2" type="revolute">
        <origin xyz="0.0026 0.0062204 0.0071414" rpy="-0.75647 0 0" />
    <parent link="link_RightSkeletonIndex1" />
    <child link="link_RightSkeletonIndex2" />
    <axis xyz="1 0 0" />
    <limit lower="0" upper="0" effort="0" velocity="0" />
  </joint>
    <joint name="joint_RightSkeletonIndex3" type="revolute">
        <origin xyz="0 0.043889 0.062046" rpy="-0.81433 0 0" />
    <parent link="link_RightSkeletonIndex2" />
    <child link="link_RightSkeletonIndex3" />
    <axis xyz="1 0 0" />
    <limit lower="0" upper="0" effort="0" velocity="0" />
  </joint>
    <joint name="joint_RightSkeletonIndex4" type="revolute">
        <origin xyz="0 0.031696 0.067973" rpy="1.7453 0 0" />
    <parent link="link_RightSkeletonIndex3" />
    <child link="link_RightSkeletonIndex4" />
    <axis xyz="1 0 0" />
    <limit lower="0" upper="0" effort="0" velocity="0" />
  </joint>
    <joint name="joint_RightSkeletonMiddle1" type="revolute">
        <origin xyz="0 0 0.001" rpy="0 0 -0.1199" />
    <parent link="link_RightSkeletonBase" />
    <child link="link_RightSkeletonMiddle1" />
    <axis xyz="0 0 1" />
    <limit lower="0" upper="0" effort="0" velocity="0" />
  </joint>
    <joint name="joint_RightSkeletonMiddle2" type="revolute">
        <origin xyz="0.0026 0.0062204 0.0071414" rpy="-0.75647 0 0" />
    <parent link="link_RightSkeletonMiddle1" />
    <child link="link_RightSkeletonMiddle2" />
    <axis xyz="1 0 0" />
    <limit lower="0" upper="0" effort="0" velocity="0" />
  </joint>
    <joint name="joint_RightSkeletonMiddle3" type="revolute">
        <origin xyz="0 0.043889 0.062046" rpy="-0.81433 0 0" />
    <parent link="link_RightSkeletonMiddle2" />
    <child link="link_RightSkeletonMiddle3" />
    <axis xyz="1 0 0" />
    <limit lower="0" upper="0" effort="0" velocity="0" />
  </joint>
    <joint name="joint_RightSkeletonMiddle4" type="revolute">
        <origin xyz="0 0.031696 0.067973" rpy="1.7453 0 0" />
    <parent link="link_RightSkeletonMiddle3" />
    <child link="link_RightSkeletonMiddle4" />
    <axis xyz="1 0 0" />
    <limit lower="0" upper="0" effort="0" velocity="0" />
  </joint>
    <joint name="joint_RightSkeletonRing1" type="revolute">
        <origin xyz="0.020849 -0.002512 0.001" rpy="0 0 -0.1199" />
    <parent link="link_RightSkeletonBase" />
    <child link="link_RightSkeletonRing1" />
    <axis xyz="0 0 1" />
    <limit lower="0" upper="0" effort="0" velocity="0" />
  </joint>
    <joint name="joint_RightSkeletonRing2" type="revolute">
        <origin xyz="0.0026 0.0062204 0.0071414" rpy="-0.75647 0 0" />
    <parent link="link_RightSkeletonRing1" />
    <child link="link_RightSkeletonRing2" />
    <axis xyz="1 0 0" />
    <limit lower="0" upper="0" effort="0" velocity="0" />
  </joint>
    <joint name="joint_RightSkeletonRing3" type="revolute">
        <origin xyz="0 0.043889 0.062046" rpy="-0.81433 0 0" />
    <parent link="link_RightSkeletonRing2" />
    <child link="link_RightSkeletonRing3" />
    <axis xyz="1 0 0" />
    <limit lower="0" upper="0" effort="0" velocity="0" />
  </joint>
    <joint name="joint_RightSkeletonRing4" type="revolute">
        <origin xyz="0 0.031696 0.067973" rpy="1.7453 0 0" />
    <parent link="link_RightSkeletonRing3" />
    <child link="link_RightSkeletonRing4" />
    <axis xyz="1 0 0" />
    <limit lower="0" upper="0" effort="0" velocity="0" />
  </joint>
    <joint name="joint_RightSkeletonPinky1" type="revolute">
        <origin xyz="0.0431 -0.0051927 -0.0013494" rpy="-0.015367 0.17386 -0.20851" />
    <parent link="link_RightSkeletonBase" />
    <child link="link_RightSkeletonPinky1" />
    <axis xyz="0 0 1" />
    <limit lower="0" upper="0" effort="0" velocity="0" />
  </joint>
    <joint name="joint_RightSkeletonPinky2" type="revolute">
        <origin xyz="0.0026 0.0062204 0.0071414" rpy="-0.75647 0 0" />
    <parent link="link_RightSkeletonPinky1" />
    <child link="link_RightSkeletonPinky2" />
    <axis xyz="1 0 0" />
    <limit lower="0" upper="0" effort="0" velocity="0" />
  </joint>
    <joint name="joint_RightSkeletonPinky3" type="revolute">
        <origin xyz="0 0.043889 0.062046" rpy="-0.81433 0 0" />
    <parent link="link_RightSkeletonPinky2" />
    <child link="link_RightSkeletonPinky3" />
    <axis xyz="1 0 0" />
    <limit lower="0" upper="0" effort="0" velocity="0" />
  </joint>
    <joint name="joint_RightSkeletonPinky4" type="revolute">
        <origin xyz="0 0.031696 0.067973" rpy="1.7453 0 0" />
    <parent link="link_RightSkeletonPinky3" />
    <child link="link_RightSkeletonPinky4" />
    <axis xyz="1 0 0" />
    <limit lower="0" upper="0" effort="0" velocity="0" />
  </joint>
    <joint name="joint_LeftShoulder_R" type="revolute">
        <parent link="link_Spine2_Y" />
        <child link="link_LeftShoulder_R" />
        <axis xyz="1 0 0" />
        <limit effort="100.0000" lower="-3.1415926536" upper="3.1415926536" velocity="3.0000" />
        <origin rpy="0.0 0.0 0" xyz="-0.029000 0.0 0.133400" />
    </joint>
    <joint name="joint_LeftShoulder_P" type="revolute">
        <parent link="link_LeftShoulder_R" />
        <child link="link_LeftShoulder_P" />
        <axis xyz="0 1 0" />
        <limit effort="100.0000" lower="-3.1415926536" upper="3.1415926536" velocity="3.0000" />
        <origin xyz="0 0 0" rpy="0 0 0" />
    </joint>
    <joint name="joint_LeftShoulder_Y" type="revolute">
        <parent link="link_LeftShoulder_P" />
        <child link="link_LeftShoulder_Y" />
        <axis xyz="0 0 1" />
        <limit effort="100.0000" lower="-3.1415926536" upper="3.1415926536" velocity="3.0000" />
        <origin xyz="0 0 0" rpy="0 0 0" />
    </joint>
    <joint name="joint_LeftArm_R" type="revolute">
        <parent link="link_LeftShoulder_Y" />
        <child link="link_LeftArm_R" />
        <axis xyz="1 0 0" />
        <limit effort="100.0000" lower="-3.1415926536" upper="3.1415926536" velocity="3.0000" />
        <origin rpy="0.0 0.0 0.0" xyz="-0.161000 0.0 0.0" />
    </joint>
    <joint name="joint_LeftArm_P" type="revolute">
        <parent link="link_LeftArm_R" />
        <child link="link_LeftArm_P" />
        <axis xyz="0 1 0" />
        <limit effort="100.0000" lower="-3.1415926536" upper="3.1415926536" velocity="3.0000" />
        <origin xyz="0 0 0" rpy="0 0 0" />
    </joint>
    <joint name="joint_LeftArm_Y" type="revolute">
        <parent link="link_LeftArm_P" />
        <child link="link_LeftArm_Y" />
        <axis xyz="0 0 1" />
        <limit effort="100.0000" lower="-3.1415926536" upper="3.1415926536" velocity="3.0000" />
        <origin xyz="0 0 0" rpy="0 0 0" />
    </joint>
    <joint name="joint_LeftForeArm_R" type="revolute">
        <parent link="link_LeftArm_Y" />
        <child link="link_LeftForeArm_R" />
        <axis xyz="1 0 0" />
        <limit effort="100.0000" lower="-3.1415926536" upper="3.1415926536" velocity="3.0000" />
        <origin rpy="0.0 0.0 0.0" xyz="0.0 0.0 -0.280000" />
    </joint>
    <joint name="joint_LeftForeArm_P" type="revolute">
        <parent link="link_LeftForeArm_R" />
        <child link="link_LeftForeArm_P" />
        <axis xyz="0 1 0" />
        <limit effort="100.0000" lower="-3.1415926536" upper="3.1415926536" velocity="3.0000" />
        <origin xyz="0 0 0" rpy="0 0 0" />
    </joint>
    <joint name="joint_LeftForeArm_Y" type="revolute">
        <parent link="link_LeftForeArm_P" />
        <child link="link_LeftForeArm_Y" />
        <axis xyz="0 0 1" />
        <limit effort="100.0000" lower="-3.1415926536" upper="3.1415926536" velocity="3.0000" />
        <origin xyz="0 0 0" rpy="0 0 0" />
    </joint>
    <joint name="joint_LeftHand_R" type="revolute">
        <parent link="link_LeftForeArm_Y" />
        <child link="link_LeftHand_R" />
        <axis xyz="1 0 0" />
        <limit effort="100.0000" lower="-3.1415926536" upper="3.1415926536" velocity="3.0000" />
        <origin rpy="0 0 0" xyz="0.0 0.0 -0.260000" />
    </joint>
    <joint name="joint_LeftHand_P" type="revolute">
        <parent link="link_LeftHand_R" />
        <child link="link_LeftHand_P" />
        <axis xyz="0 1 0" />
        <limit effort="100.0000" lower="-3.1415926536" upper="3.1415926536" velocity="3.0000" />
        <origin xyz="0 0 0" rpy="0 0 0" />
    </joint>
    <joint name="joint_LeftHand_Y" type="revolute">
        <parent link="link_LeftHand_P" />
        <child link="link_LeftHand_Y" />
        <axis xyz="0 0 1" />
        <limit effort="100.0000" lower="-3.1415926536" upper="3.1415926536" velocity="3.0000" />
        <origin xyz="0 0 0" rpy="0 0 0" />
    </joint>
    <joint name="joint_LeftHandThumb1_R" type="revolute">
        <parent link="link_LeftHand_Y" />
        <child link="link_LeftHandThumb1_R" />
        <axis xyz="1 0 0" />
        <limit effort="100.0000" lower="-3.1415926536" upper="3.1415926536" velocity="3.0000" />
        <origin rpy="0 0 0" xyz="0.002290  0.020847 -0.024347" />
    </joint>
    <joint name="joint_LeftHandThumb1_P" type="revolute">
        <parent link="link_LeftHandThumb1_R" />
        <child link="link_LeftHandThumb1_P" />
        <axis xyz="0 1 0" />
        <limit effort="100.0000" lower="-3.1415926536" upper="3.1415926536" velocity="3.0000" />
        <origin xyz="0 0 0" rpy="0 0 0" />
    </joint>
    <joint name="joint_LeftHandThumb1_Y" type="revolute">
        <parent link="link_LeftHandThumb1_P" />
        <child link="link_LeftHandThumb1_Y" />
        <axis xyz="0 0 1" />
        <limit effort="100.0000" lower="-3.1415926536" upper="3.1415926536" velocity="3.0000" />
        <origin xyz="0 0 0" rpy="0 0 0" />
    </joint>
    <joint name="joint_LeftHandThumb2_R" type="revolute">
        <parent link="link_LeftHandThumb1_Y" />
        <child link="link_LeftHandThumb2_R" />
        <axis xyz="1 0 0" />
        <limit effort="100.0000" lower="-3.1415926536" upper="3.1415926536" velocity="3.0000" />
        <origin rpy="0.0 0.0 0.0" xyz="0.0 0.0 -0.038720" />
    </joint>
    <joint name="joint_LeftHandThumb2_P" type="revolute">
        <parent link="link_LeftHandThumb2_R" />
        <child link="link_LeftHandThumb2_P" />
        <axis xyz="0 1 0" />
        <limit effort="100.0000" lower="-3.1415926536" upper="3.1415926536" velocity="3.0000" />
        <origin xyz="0 0 0" rpy="0 0 0" />
    </joint>
    <joint name="joint_LeftHandThumb2_Y" type="revolute">
        <parent link="link_LeftHandThumb2_P" />
        <child link="link_LeftHandThumb2_Y" />
        <axis xyz="0 0 1" />
        <limit effort="100.0000" lower="-3.1415926536" upper="3.1415926536" velocity="3.0000" />
        <origin xyz="0 0 0" rpy="0 0 0" />
    </joint>
    <joint name="joint_LeftHandThumb3_R" type="revolute">
        <parent link="link_LeftHandThumb2_Y" />
        <child link="link_LeftHandThumb3_R" />
        <axis xyz="1 0 0" />
        <limit effort="100.0000" lower="-3.1415926536" upper="3.1415926536" velocity="3.0000" />
        <origin rpy="0.0 0.0 0.0" xyz="0.0 0.0 -0.026900" />
    </joint>
    <joint name="joint_LeftHandThumb3_P" type="revolute">
        <parent link="link_LeftHandThumb3_R" />
        <child link="link_LeftHandThumb3_P" />
        <axis xyz="0 1 0" />
        <limit effort="100.0000" lower="-3.1415926536" upper="3.1415926536" velocity="3.0000" />
        <origin xyz="0 0 0" rpy="0 0 0" />
    </joint>
    <joint name="joint_LeftHandThumb3_Y" type="revolute">
        <parent link="link_LeftHandThumb3_P" />
        <child link="link_LeftHandThumb3_Y" />
        <axis xyz="0 0 1" />
        <limit effort="100.0000" lower="-3.1415926536" upper="3.1415926536" velocity="3.0000" />
        <origin xyz="0 0 0" rpy="0 0 0" />
    </joint>
    <joint name="joint_LeftInHandIndex_R" type="revolute">
        <parent link="link_LeftHand_Y" />
        <child link="link_LeftInHandIndex_R" />
        <axis xyz="1 0 0" />
        <limit effort="100.0000" lower="-3.1415926536" upper="3.1415926536" velocity="3.0000" />
        <origin rpy="0 0 0" xyz="0.004337 0.011103 -0.038311" />
    </joint>
    <joint name="joint_LeftInHandIndex_P" type="revolute">
        <parent link="link_LeftInHandIndex_R" />
        <child link="link_LeftInHandIndex_P" />
        <axis xyz="0 1 0" />
        <limit effort="100.0000" lower="-3.1415926536" upper="3.1415926536" velocity="3.0000" />
        <origin xyz="0 0 0" rpy="0 0 0" />
    </joint>
    <joint name="joint_LeftInHandIndex_Y" type="revolute">
        <parent link="link_LeftInHandIndex_P" />
        <child link="link_LeftInHandIndex_Y" />
        <axis xyz="0 0 1" />
        <limit effort="100.0000" lower="-3.1415926536" upper="3.1415926536" velocity="3.0000" />
        <origin xyz="0 0 0" rpy="0 0 0" />
    </joint>
    <joint name="joint_LeftHandIndex1_R" type="revolute">
        <parent link="link_LeftInHandIndex_Y" />
        <child link="link_LeftHandIndex1_R" />
        <axis xyz="1 0 0" />
        <limit effort="100.0000" lower="-3.1415926536" upper="3.1415926536" velocity="3.0000" />
        <origin rpy="0 0 0" xyz="0.0 -0.0 -0.055856" />
    </joint>
    <joint name="joint_LeftHandIndex1_P" type="revolute">
        <parent link="link_LeftHandIndex1_R" />
        <child link="link_LeftHandIndex1_P" />
        <axis xyz="0 1 0" />
        <limit effort="100.0000" lower="-3.1415926536" upper="3.1415926536" velocity="3.0000" />
        <origin xyz="0 0 0" rpy="0 0 0" />
    </joint>
    <joint name="joint_LeftHandIndex1_Y" type="revolute">
        <parent link="link_LeftHandIndex1_P" />
        <child link="link_LeftHandIndex1_Y" />
        <axis xyz="0 0 1" />
        <limit effort="100.0000" lower="-3.1415926536" upper="3.1415926536" velocity="3.0000" />
        <origin xyz="0 0 0" rpy="0 0 0" />
    </joint>
    <joint name="joint_LeftHandIndex2_R" type="revolute">
        <parent link="link_LeftHandIndex1_Y" />
        <child link="link_LeftHandIndex2_R" />
        <axis xyz="1 0 0" />
        <limit effort="100.0000" lower="-3.1415926536" upper="3.1415926536" velocity="3.0000" />
        <origin rpy="0.0 0.0 0.0" xyz="0.0 -0.0 -0.038060" />
    </joint>
    <joint name="joint_LeftHandIndex2_P" type="revolute">
        <parent link="link_LeftHandIndex2_R" />
        <child link="link_LeftHandIndex2_P" />
        <axis xyz="0 1 0" />
        <limit effort="100.0000" lower="-3.1415926536" upper="3.1415926536" velocity="3.0000" />
        <origin xyz="0 0 0" rpy="0 0 0" />
    </joint>
    <joint name="joint_LeftHandIndex2_Y" type="revolute">
        <parent link="link_LeftHandIndex2_P" />
        <child link="link_LeftHandIndex2_Y" />
        <axis xyz="0 0 1" />
        <limit effort="100.0000" lower="-3.1415926536" upper="3.1415926536" velocity="3.0000" />
        <origin xyz="0 0 0" rpy="0 0 0" />
    </joint>
    <joint name="joint_LeftHandIndex3_R" type="revolute">
        <parent link="link_LeftHandIndex2_Y" />
        <child link="link_LeftHandIndex3_R" />
        <axis xyz="1 0 0" />
        <limit effort="100.0000" lower="-3.1415926536" upper="3.1415926536" velocity="3.0000" />
        <origin rpy="0.0 0.0 -0.0" xyz="0.0 -0.0 -0.021580" />
    </joint>
    <joint name="joint_LeftHandIndex3_P" type="revolute">
        <parent link="link_LeftHandIndex3_R" />
        <child link="link_LeftHandIndex3_P" />
        <axis xyz="0 1 0" />
        <limit effort="100.0000" lower="-3.1415926536" upper="3.1415926536" velocity="3.0000" />
        <origin xyz="0 0 0" rpy="0 0 0" />
    </joint>
    <joint name="joint_LeftHandIndex3_Y" type="revolute">
        <parent link="link_LeftHandIndex3_P" />
        <child link="link_LeftHandIndex3_Y" />
        <axis xyz="0 0 1" />
        <limit effort="100.0000" lower="-3.1415926536" upper="3.1415926536" velocity="3.0000" />
        <origin xyz="0 0 0" rpy="0 0 0" />
    </joint>
    <joint name="joint_LeftInHandMiddle_R" type="revolute">
        <parent link="link_LeftHand_Y" />
        <child link="link_LeftInHandMiddle_R" />
        <axis xyz="1 0 0" />
        <limit effort="100.0000" lower="-3.1415926536" upper="3.1415926536" velocity="3.0000" />
        <origin rpy="0 0 0" xyz="0.001414 -0.001419 -0.036789" />
    </joint>
    <joint name="joint_LeftInHandMiddle_P" type="revolute">
        <parent link="link_LeftInHandMiddle_R" />
        <child link="link_LeftInHandMiddle_P" />
        <axis xyz="0 1 0" />
        <limit effort="100.0000" lower="-3.1415926536" upper="3.1415926536" velocity="3.0000" />
        <origin xyz="0 0 0" rpy="0 0 0" />
    </joint>
    <joint name="joint_LeftInHandMiddle_Y" type="revolute">
        <parent link="link_LeftInHandMiddle_P" />
        <child link="link_LeftInHandMiddle_Y" />
        <axis xyz="0 0 1" />
        <limit effort="100.0000" lower="-3.1415926536" upper="3.1415926536" velocity="3.0000" />
        <origin xyz="0 0 0" rpy="0 0 0" />
    </joint>
    <joint name="joint_LeftHandMiddle1_R" type="revolute">
        <parent link="link_LeftInHandMiddle_Y" />
        <child link="link_LeftHandMiddle1_R" />
        <axis xyz="1 0 0" />
        <limit effort="100.0000" lower="-3.1415926536" upper="3.1415926536" velocity="3.0000" />
        <origin rpy="0 0 0" xyz="0.0 0.0 -0.054517" />
    </joint>
    <joint name="joint_LeftHandMiddle1_P" type="revolute">
        <parent link="link_LeftHandMiddle1_R" />
        <child link="link_LeftHandMiddle1_P" />
        <axis xyz="0 1 0" />
        <limit effort="100.0000" lower="-3.1415926536" upper="3.1415926536" velocity="3.0000" />
        <origin xyz="0 0 0" rpy="0 0 0" />
    </joint>
    <joint name="joint_LeftHandMiddle1_Y" type="revolute">
        <parent link="link_LeftHandMiddle1_P" />
        <child link="link_LeftHandMiddle1_Y" />
        <axis xyz="0 0 1" />
        <limit effort="100.0000" lower="-3.1415926536" upper="3.1415926536" velocity="3.0000" />
        <origin xyz="0 0 0" rpy="0 0 0" />
    </joint>
    <joint name="joint_LeftHandMiddle2_R" type="revolute">
        <parent link="link_LeftHandMiddle1_Y" />
        <child link="link_LeftHandMiddle2_R" />
        <axis xyz="1 0 0" />
        <limit effort="100.0000" lower="-3.1415926536" upper="3.1415926536" velocity="3.0000" />
        <origin rpy="0.0 0.0 -0.0" xyz="0.0 -0.0 -0.041530" />
    </joint>
    <joint name="joint_LeftHandMiddle2_P" type="revolute">
        <parent link="link_LeftHandMiddle2_R" />
        <child link="link_LeftHandMiddle2_P" />
        <axis xyz="0 1 0" />
        <limit effort="100.0000" lower="-3.1415926536" upper="3.1415926536" velocity="3.0000" />
        <origin xyz="0 0 0" rpy="0 0 0" />
    </joint>
    <joint name="joint_LeftHandMiddle2_Y" type="revolute">
        <parent link="link_LeftHandMiddle2_P" />
        <child link="link_LeftHandMiddle2_Y" />
        <axis xyz="0 0 1" />
        <limit effort="100.0000" lower="-3.1415926536" upper="3.1415926536" velocity="3.0000" />
        <origin xyz="0 0 0" rpy="0 0 0" />
    </joint>
    <joint name="joint_LeftHandMiddle3_R" type="revolute">
        <parent link="link_LeftHandMiddle2_Y" />
        <child link="link_LeftHandMiddle3_R" />
        <axis xyz="1 0 0" />
        <limit effort="100.0000" lower="-3.1415926536" upper="3.1415926536" velocity="3.0000" />
        <origin rpy="0.0 0.0 -0.0" xyz="0.0 -0.0 -0.026030" />
    </joint>
    <joint name="joint_LeftHandMiddle3_P" type="revolute">
        <parent link="link_LeftHandMiddle3_R" />
        <child link="link_LeftHandMiddle3_P" />
        <axis xyz="0 1 0" />
        <limit effort="100.0000" lower="-3.1415926536" upper="3.1415926536" velocity="3.0000" />
        <origin xyz="0 0 0" rpy="0 0 0" />
    </joint>
    <joint name="joint_LeftHandMiddle3_Y" type="revolute">
        <parent link="link_LeftHandMiddle3_P" />
        <child link="link_LeftHandMiddle3_Y" />
        <axis xyz="0 0 1" />
        <limit effort="100.0000" lower="-3.1415926536" upper="3.1415926536" velocity="3.0000" />
        <origin xyz="0 0 0" rpy="0 0 0" />
    </joint>
    <joint name="joint_LeftInHandRing_R" type="revolute">
        <parent link="link_LeftHand_Y" />
        <child link="link_LeftInHandRing_R" />
        <axis xyz="1 0 0" />
        <limit effort="100.0000" lower="-3.1415926536" upper="3.1415926536" velocity="3.0000" />
        <origin rpy="0 0 0" xyz="-0.000343 -0.010250 -0.034368" />
    </joint>
    <joint name="joint_LeftInHandRing_P" type="revolute">
        <parent link="link_LeftInHandRing_R" />
        <child link="link_LeftInHandRing_P" />
        <axis xyz="0 1 0" />
        <limit effort="100.0000" lower="-3.1415926536" upper="3.1415926536" velocity="3.0000" />
        <origin xyz="0 0 0" rpy="0 0 0" />
    </joint>
    <joint name="joint_LeftInHandRing_Y" type="revolute">
        <parent link="link_LeftInHandRing_P" />
        <child link="link_LeftInHandRing_Y" />
        <axis xyz="0 0 1" />
        <limit effort="100.0000" lower="-3.1415926536" upper="3.1415926536" velocity="3.0000" />
        <origin xyz="0 0 0" rpy="0 0 0" />
    </joint>
    <joint name="joint_LeftHandRing1_R" type="revolute">
        <parent link="link_LeftInHandRing_Y" />
        <child link="link_LeftHandRing1_R" />
        <axis xyz="1 0 0" />
        <limit effort="100.0000" lower="-3.1415926536" upper="3.1415926536" velocity="3.0000" />
        <origin rpy="0 0 0" xyz="0.0 0.0 -0.048991" />
    </joint>
    <joint name="joint_LeftHandRing1_P" type="revolute">
        <parent link="link_LeftHandRing1_R" />
        <child link="link_LeftHandRing1_P" />
        <axis xyz="0 1 0" />
        <limit effort="100.0000" lower="-3.1415926536" upper="3.1415926536" velocity="3.0000" />
        <origin xyz="0 0 0" rpy="0 0 0" />
    </joint>
    <joint name="joint_LeftHandRing1_Y" type="revolute">
        <parent link="link_LeftHandRing1_P" />
        <child link="link_LeftHandRing1_Y" />
        <axis xyz="0 0 1" />
        <limit effort="100.0000" lower="-3.1415926536" upper="3.1415926536" velocity="3.0000" />
        <origin xyz="0 0 0" rpy="0 0 0" />
    </joint>
    <joint name="joint_LeftHandRing2_R" type="revolute">
        <parent link="link_LeftHandRing1_Y" />
        <child link="link_LeftHandRing2_R" />
        <axis xyz="1 0 0" />
        <limit effort="100.0000" lower="-3.1415926536" upper="3.1415926536" velocity="3.0000" />
        <origin rpy="0.0 0.0 -0.0" xyz="0.0 -0.0 -0.036190" />
    </joint>
    <joint name="joint_LeftHandRing2_P" type="revolute">
        <parent link="link_LeftHandRing2_R" />
        <child link="link_LeftHandRing2_P" />
        <axis xyz="0 1 0" />
        <limit effort="100.0000" lower="-3.1415926536" upper="3.1415926536" velocity="3.0000" />
        <origin xyz="0 0 0" rpy="0 0 0" />
    </joint>
    <joint name="joint_LeftHandRing2_Y" type="revolute">
        <parent link="link_LeftHandRing2_P" />
        <child link="link_LeftHandRing2_Y" />
        <axis xyz="0 0 1" />
        <limit effort="100.0000" lower="-3.1415926536" upper="3.1415926536" velocity="3.0000" />
        <origin xyz="0 0 0" rpy="0 0 0" />
    </joint>
    <joint name="joint_LeftHandRing3_R" type="revolute">
        <parent link="link_LeftHandRing2_Y" />
        <child link="link_LeftHandRing3_R" />
        <axis xyz="1 0 0" />
        <limit effort="100.0000" lower="-3.1415926536" upper="3.1415926536" velocity="3.0000" />
        <origin rpy="0.0 0.0 -0.0" xyz="0.0 -0.0 -0.025110" />
    </joint>
    <joint name="joint_LeftHandRing3_P" type="revolute">
        <parent link="link_LeftHandRing3_R" />
        <child link="link_LeftHandRing3_P" />
        <axis xyz="0 1 0" />
        <limit effort="100.0000" lower="-3.1415926536" upper="3.1415926536" velocity="3.0000" />
        <origin xyz="0 0 0" rpy="0 0 0" />
    </joint>
    <joint name="joint_LeftHandRing3_Y" type="revolute">
        <parent link="link_LeftHandRing3_P" />
        <child link="link_LeftHandRing3_Y" />
        <axis xyz="0 0 1" />
        <limit effort="100.0000" lower="-3.1415926536" upper="3.1415926536" velocity="3.0000" />
        <origin xyz="0 0 0" rpy="0 0 0" />
    </joint>
    <joint name="joint_LeftInHandPinky_R" type="revolute">
        <parent link="link_LeftHand_Y" />
        <child link="link_LeftInHandPinky_R" />
        <axis xyz="1 0 0" />
        <limit effort="100.0000" lower="-3.1415926536" upper="3.1415926536" velocity="3.0000" />
        <origin rpy="0 0 0" xyz="-0.003119 -0.020281 -0.029462" />
    </joint>
    <joint name="joint_LeftInHandPinky_P" type="revolute">
        <parent link="link_LeftInHandPinky_R" />
        <child link="link_LeftInHandPinky_P" />
        <axis xyz="0 1 0" />
        <limit effort="100.0000" lower="-3.1415926536" upper="3.1415926536" velocity="3.0000" />
        <origin xyz="0 0 0" rpy="0 0 0" />
    </joint>
    <joint name="joint_LeftInHandPinky_Y" type="revolute">
        <parent link="link_LeftInHandPinky_P" />
        <child link="link_LeftInHandPinky_Y" />
        <axis xyz="0 0 1" />
        <limit effort="100.0000" lower="-3.1415926536" upper="3.1415926536" velocity="3.0000" />
        <origin xyz="0 0 0" rpy="0 0 0" />
    </joint>
    <joint name="joint_LeftHandPinky1_R" type="revolute">
        <parent link="link_LeftInHandPinky_Y" />
        <child link="link_LeftHandPinky1_R" />
        <axis xyz="1 0 0" />
        <limit effort="100.0000" lower="-3.1415926536" upper="3.1415926536" velocity="3.0000" />
        <origin rpy="0 0 0" xyz="0.0 0.0 -0.045026" />
    </joint>
    <joint name="joint_LeftHandPinky1_P" type="revolute">
        <parent link="link_LeftHandPinky1_R" />
        <child link="link_LeftHandPinky1_P" />
        <axis xyz="0 1 0" />
        <limit effort="100.0000" lower="-3.1415926536" upper="3.1415926536" velocity="3.0000" />
        <origin xyz="0 0 0" rpy="0 0 0" />
    </joint>
    <joint name="joint_LeftHandPinky1_Y" type="revolute">
        <parent link="link_LeftHandPinky1_P" />
        <child link="link_LeftHandPinky1_Y" />
        <axis xyz="0 0 1" />
        <limit effort="100.0000" lower="-3.1415926536" upper="3.1415926536" velocity="3.0000" />
        <origin xyz="0 0 0" rpy="0 0 0" />
    </joint>
    <joint name="joint_LeftHandPinky2_R" type="revolute">
        <parent link="link_LeftHandPinky1_Y" />
        <child link="link_LeftHandPinky2_R" />
        <axis xyz="1 0 0" />
        <limit effort="100.0000" lower="-3.1415926536" upper="3.1415926536" velocity="3.0000" />
        <origin rpy="0.0 0.0 0.0" xyz="0.0 -0.0 -0.028980" />
    </joint>
    <joint name="joint_LeftHandPinky2_P" type="revolute">
        <parent link="link_LeftHandPinky2_R" />
        <child link="link_LeftHandPinky2_P" />
        <axis xyz="0 1 0" />
        <limit effort="100.0000" lower="-3.1415926536" upper="3.1415926536" velocity="3.0000" />
        <origin xyz="0 0 0" rpy="0 0 0" />
    </joint>
    <joint name="joint_LeftHandPinky2_Y" type="revolute">
        <parent link="link_LeftHandPinky2_P" />
        <child link="link_LeftHandPinky2_Y" />
        <axis xyz="0 0 1" />
        <limit effort="100.0000" lower="-3.1415926536" upper="3.1415926536" velocity="3.0000" />
        <origin xyz="0 0 0" rpy="0 0 0" />
    </joint>
    <joint name="joint_LeftHandPinky3_R" type="revolute">
        <parent link="link_LeftHandPinky2_Y" />
        <child link="link_LeftHandPinky3_R" />
        <axis xyz="1 0 0" />
        <limit effort="100.0000" lower="-3.1415926536" upper="3.1415926536" velocity="3.0000" />
        <origin rpy="0.0 0.0 -0.0" xyz="0.0 -0.0 -0.018310" />
    </joint>
    <joint name="joint_LeftHandPinky3_P" type="revolute">
        <parent link="link_LeftHandPinky3_R" />
        <child link="link_LeftHandPinky3_P" />
        <axis xyz="0 1 0" />
        <limit effort="100.0000" lower="-3.1415926536" upper="3.1415926536" velocity="3.0000" />
        <origin xyz="0 0 0" rpy="0 0 0" />
    </joint>
    <joint name="joint_LeftHandPinky3_Y" type="revolute">
        <parent link="link_LeftHandPinky3_P" />
        <child link="link_LeftHandPinky3_Y" />
        <axis xyz="0 0 1" />
        <limit effort="100.0000" lower="-3.1415926536" upper="3.1415926536" velocity="3.0000" />
        <origin xyz="0 0 0" rpy="0 0 0" />
    </joint>
    <joint name="joint_LeftSkeletonBase" type="fixed">
        <parent link="link_LeftHand_Y" />
        <child link="link_LeftSkeletonBase" />
        <axis xyz="0 1 0" />
        <limit effort="100.0000" lower="-3.1415926536" upper="3.1415926536" velocity="3.0000" />
        <origin xyz="-0.02 0 -0.1" rpy="-1.5707963268 0 1.5707963268" />
    </joint>
    <!-- <joint name="joint_LeftMarker" type="fixed">
        <origin xyz="-0.0097906 -0.039958 0.0172" rpy="0 0 1.6907" />
        <parent link="link_LeftSkeletonBase" />
        <child link="link_LeftMarker" />
        <axis xyz="0 0 0" />
    </joint> -->
  <joint name="joint_LeftSkeletonThumbBase" type="revolute">
    <origin xyz="0.040994 -0.053404 -0.015" rpy="-3.1416 0 -2.1405" />
    <parent link="link_LeftSkeletonBase" />
    <child link="link_LeftSkeletonThumbBase" />
    <axis xyz="-1 0 0" />
    <limit lower="0" upper="0" effort="0" velocity="0" />
  </joint>
    <joint name="joint_LeftSkeletonThumb1" type="revolute">
        <origin xyz="0.0085 -0.006 0.01972" rpy="1.5708 -1.5708 0" />
    <parent link="link_LeftSkeletonThumbBase" />
    <child link="link_LeftSkeletonThumb1" />
    <axis xyz="0 0 1" />
    <limit lower="0" upper="0" effort="0" velocity="0" />
  </joint>
    <joint name="joint_LeftSkeletonThumb2" type="revolute">
        <origin xyz="0.0026 0.0062204 0.0071414" rpy="-1.1345 0 0" />
    <parent link="link_LeftSkeletonThumb1" />
    <child link="link_LeftSkeletonThumb2" />
    <axis xyz="1 0 0" />
    <limit lower="0" upper="0" effort="0" velocity="0" />
  </joint>
    <joint name="joint_LeftSkeletonThumb3" type="revolute">
        <origin xyz="0 0.050552 0.068334" rpy="-0.81433 0 0" />
    <parent link="link_LeftSkeletonThumb2" />
    <child link="link_LeftSkeletonThumb3" />
    <axis xyz="1 0 0" />
    <limit lower="0" upper="0" effort="0" velocity="0" />
  </joint>
    <joint name="joint_LeftSkeletonThumb4" type="revolute">
        <origin xyz="0 0.0080746 0.045794" rpy="2.5307 0 0" />
    <parent link="link_LeftSkeletonThumb3" />
    <child link="link_LeftSkeletonThumb4" />
    <axis xyz="1 0 0" />
    <limit lower="0" upper="0" effort="0" velocity="0" />
  </joint>
    <joint name="joint_LeftSkeletonIndex1" type="revolute">
        <origin xyz="0.022 0.0026506 -0.0019547" rpy="-0.023349 0.26078 0.029576" />
    <parent link="link_LeftSkeletonBase" />
    <child link="link_LeftSkeletonIndex1" />
    <axis xyz="0 0 1" />
    <limit lower="0" upper="0" effort="0" velocity="0" />
  </joint>
    <joint name="joint_LeftSkeletonIndex2" type="revolute">
        <origin xyz="0.0026 0.0062204 0.0071414" rpy="-0.75647 0 0" />
    <parent link="link_LeftSkeletonIndex1" />
    <child link="link_LeftSkeletonIndex2" />
    <axis xyz="1 0 0" />
    <limit lower="0" upper="0" effort="0" velocity="0" />
  </joint>
    <joint name="joint_LeftSkeletonIndex3" type="revolute">
        <origin xyz="0 0.043889 0.062046" rpy="-0.81433 0 0" />
    <parent link="link_LeftSkeletonIndex2" />
    <child link="link_LeftSkeletonIndex3" />
    <axis xyz="1 0 0" />
    <limit lower="0" upper="0" effort="0" velocity="0" />
  </joint>
    <joint name="joint_LeftSkeletonIndex4" type="revolute">
        <origin xyz="0 0.031696 0.067973" rpy="1.7453 0 0" />
    <parent link="link_LeftSkeletonIndex3" />
    <child link="link_LeftSkeletonIndex4" />
    <axis xyz="1 0 0" />
    <limit lower="0" upper="0" effort="0" velocity="0" />
  </joint>
    <joint name="joint_LeftSkeletonMiddle1" type="revolute">
        <origin xyz="0 0 0.001" rpy="0 0 0.1199" />
    <parent link="link_LeftSkeletonBase" />
    <child link="link_LeftSkeletonMiddle1" />
    <axis xyz="0 0 1" />
    <limit lower="0" upper="0" effort="0" velocity="0" />
  </joint>
    <joint name="joint_LeftSkeletonMiddle2" type="revolute">
        <origin xyz="0.0026 0.0062204 0.0071414" rpy="-0.75647 0 0" />
    <parent link="link_LeftSkeletonMiddle1" />
    <child link="link_LeftSkeletonMiddle2" />
    <axis xyz="1 0 0" />
    <limit lower="0" upper="0" effort="0" velocity="0" />
  </joint>
    <joint name="joint_LeftSkeletonMiddle3" type="revolute">
        <origin xyz="0 0.043889 0.062046" rpy="-0.81433 0 0" />
    <parent link="link_LeftSkeletonMiddle2" />
    <child link="link_LeftSkeletonMiddle3" />
    <axis xyz="1 0 0" />
    <limit lower="0" upper="0" effort="0" velocity="0" />
  </joint>
    <joint name="joint_LeftSkeletonMiddle4" type="revolute">
        <origin xyz="0 0.031696 0.067973" rpy="1.7453 0 0" />
    <parent link="link_LeftSkeletonMiddle3" />
    <child link="link_LeftSkeletonMiddle4" />
    <axis xyz="1 0 0" />
    <limit lower="0" upper="0" effort="0" velocity="0" />
  </joint>
    <joint name="joint_LeftSkeletonRing1" type="revolute">
        <origin xyz="-0.020849 -0.002512 0.001" rpy="0 0 0.1199" />
    <parent link="link_LeftSkeletonBase" />
    <child link="link_LeftSkeletonRing1" />
    <axis xyz="0 0 1" />
    <limit lower="0" upper="0" effort="0" velocity="0" />
  </joint>
    <joint name="joint_LeftSkeletonRing2" type="revolute">
        <origin xyz="0.0026 0.0062204 0.0071414" rpy="-0.75647 0 0" />
    <parent link="link_LeftSkeletonRing1" />
    <child link="link_LeftSkeletonRing2" />
    <axis xyz="1 0 0" />
    <limit lower="0" upper="0" effort="0" velocity="0" />
  </joint>
    <joint name="joint_LeftSkeletonRing3" type="revolute">
        <origin xyz="0 0.043889 0.062046" rpy="-0.81433 0 0" />
    <parent link="link_LeftSkeletonRing2" />
    <child link="link_LeftSkeletonRing3" />
    <axis xyz="1 0 0" />
    <limit lower="0" upper="0" effort="0" velocity="0" />
  </joint>
    <joint name="joint_LeftSkeletonRing4" type="revolute">
        <origin xyz="0 0.031696 0.067973" rpy="1.7453 0 0" />
    <parent link="link_LeftSkeletonRing3" />
    <child link="link_LeftSkeletonRing4" />
    <axis xyz="1 0 0" />
    <limit lower="0" upper="0" effort="0" velocity="0" />
  </joint>
    <joint name="joint_LeftSkeletonPinky1" type="revolute">
        <origin xyz="-0.0431 -0.0051927 -0.0013494" rpy="-0.015367 -0.17386 0.20851" />
    <parent link="link_LeftSkeletonBase" />
    <child link="link_LeftSkeletonPinky1" />
    <axis xyz="0 0 1" />
    <limit lower="0" upper="0" effort="0" velocity="0" />
  </joint>
    <joint name="joint_LeftSkeletonPinky2" type="revolute">
        <origin xyz="0.0026 0.0062204 0.0071414" rpy="-0.75647 0 0" />
    <parent link="link_LeftSkeletonPinky1" />
    <child link="link_LeftSkeletonPinky2" />
    <axis xyz="1 0 0" />
    <limit lower="0" upper="0" effort="0" velocity="0" />
  </joint>
    <joint name="joint_LeftSkeletonPinky3" type="revolute">
        <origin xyz="0 0.043889 0.062046" rpy="-0.81433 0 0" />
    <parent link="link_LeftSkeletonPinky2" />
    <child link="link_LeftSkeletonPinky3" />
    <axis xyz="1 0 0" />
    <limit lower="0" upper="0" effort="0" velocity="0" />
  </joint>
    <joint name="joint_LeftSkeletonPinky4" type="revolute">
        <origin xyz="0 0.031696 0.067973" rpy="1.7453 0 0" />
    <parent link="link_LeftSkeletonPinky3" />
    <child link="link_LeftSkeletonPinky4" />
    <axis xyz="1 0 0" />
    <limit lower="0" upper="0" effort="0" velocity="0" />
  </joint>
  <link name="right_thumb_tip" />
  <link name="right_index_tip" />
  <link name="right_middle_tip" />
  <link name="right_ring_tip" />
  <link name="right_pinky_tip" />
  <link name="left_thumb_tip" />
  <link name="left_index_tip" />
  <link name="left_middle_tip" />
  <link name="left_ring_tip" />
  <link name="left_pinky_tip" />
  <joint name="right_thumb_tip_joint" type="fixed">
    <origin xyz="-0.0026 0.005 -0.027" rpy="0 0 0" />
    <parent link="link_RightSkeletonThumb4" />
    <child link="right_thumb_tip" />
	</joint>
  <joint name="right_index_tip_joint" type="fixed">
    <origin xyz="-0.0026 0.005 -0.027" rpy="0 0 0" />
    <parent link="link_RightSkeletonIndex4" />
    <child link="right_index_tip" />
	</joint>
	<joint name="right_middle_tip_joint" type="fixed">
    <origin xyz="-0.0026 0.005 -0.027" rpy="0 0 0" />
    <parent link="link_RightSkeletonMiddle4" />
    <child link="right_middle_tip" />
	</joint>
	<joint name="right_ring_tip_joint" type="fixed">
    <origin xyz="-0.0026 0.005 -0.027" rpy="0 0 0" />
    <parent link="link_RightSkeletonRing4" />
    <child link="right_ring_tip" />
	</joint>
	<joint name="right_pinky_tip_joint" type="fixed">
    <origin xyz="-0.0026 0.005 -0.027" rpy="0 0 0" />
    <parent link="link_RightSkeletonPinky4" />
    <child link="right_pinky_tip" />
	</joint>
  <joint name="left_thumb_tip_joint" type="fixed">
    <origin xyz="-0.0026 0.005 -0.027" rpy="0 0 0" />
    <parent link="link_LeftSkeletonThumb4" />
    <child link="left_thumb_tip" />
	</joint>
  <joint name="left_index_tip_joint" type="fixed">
    <origin xyz="-0.0026 0.005 -0.027" rpy="0 0 0" />
    <parent link="link_LeftSkeletonIndex4" />
    <child link="left_index_tip" />
	</joint>
	<joint name="left_middle_tip_joint" type="fixed">
    <origin xyz="-0.0026 0.005 -0.027" rpy="0 0 0" />
    <parent link="link_LeftSkeletonMiddle4" />
    <child link="left_middle_tip" />
	</joint>
	<joint name="left_ring_tip_joint" type="fixed">
    <origin xyz="-0.0026 0.005 -0.027" rpy="0 0 0" />
    <parent link="link_LeftSkeletonRing4" />
    <child link="left_ring_tip" />
	</joint>
	<joint name="left_pinky_tip_joint" type="fixed">
    <origin xyz="-0.0026 0.005 -0.027" rpy="0 0 0" />
    <parent link="link_LeftSkeletonPinky4" />
    <child link="left_pinky_tip" />
	</joint>
	<link name="right_hand" />
	<link name="left_hand" />
	<joint name="joint_right_hand" type="fixed">
		<origin xyz="0.0097906 -0.039958 -0.03" rpy="0 0 0" />
    <parent link="link_RightSkeletonBase" />
    <child link="right_hand" />
  </joint>
	<joint name="joint_left_hand" type="fixed">
		<origin xyz="-0.0097906 -0.039958 -0.03" rpy="0 0 0" />
    <parent link="link_LeftSkeletonBase" />
    <child link="left_hand" />
  </joint>
  <link
    name="Rgamepadbase">
    <inertial>
      <origin
        xyz="0.0031077 0.021669 0.0084989"
        rpy="0 0 0" />
      <mass
        value="0.02843" />
      <inertia
        ixx="1.9843E-05"
        ixy="-3.9906E-07"
        ixz="-5.063E-07"
        iyy="9.7174E-06"
        iyz="-3.9711E-06"
        izz="2.0273E-05" />
    </inertial>
    <visual>
      <origin
        xyz="0 0 0"
        rpy="0 0 0" />
      <geometry>
        <mesh
          filename="package://io_mocap/description/meshes/v2/Rgamepadbase.STL" />
      </geometry>
      <material
        name="">
        <color
          rgba="0.79216 0.81961 0.93333 1" />
      </material>
    </visual>
  </link>
  <link
    name="Rgamepad">
    <inertial>
      <origin
        xyz="0.00893 -0.041415 -0.020604"
        rpy="0 0 0" />
      <mass
        value="0.021713" />
      <inertia
        ixx="4.7609E-06"
        ixy="-3.6668E-07"
        ixz="-2.4931E-07"
        iyy="1.9878E-06"
        iyz="-1.3791E-06"
        izz="3.9524E-06" />
    </inertial>
  </link>
  <joint name="Rgamebase_joint" type="fixed" >
    <origin xyz="0.0097906 -0.039958 0.0172" rpy="0 0 1.4509" />
    <parent link="link_RightSkeletonBase" />
    <child link="Rgamepadbase" />
  </joint>
  <joint
    name="Rgamepad_joint"
    type="fixed">
    <origin
      xyz="-0.035927 0.0795 0.020469"
      rpy="2.8795 0.79734 -2.0538" />
    <parent
      link="Rgamepadbase" />
    <child
      link="Rgamepad" />
    <axis
      xyz="0 0 0" />
  </joint>
  <link
    name="Lgamepadbase">
    <inertial>
      <origin
        xyz="0.0030876 -0.021663 0.0084916"
        rpy="0 0 0" />
      <mass
        value="0.028422" />
      <inertia
        ixx="1.9837E-05"
        ixy="3.9965E-07"
        ixz="-5.0714E-07"
        iyy="9.714E-06"
        iyz="3.9687E-06"
        izz="2.0269E-05" />
    </inertial>
    <visual>
      <origin
        xyz="0 0 0"
        rpy="0 0 0" />
      <geometry>
        <mesh
          filename="package://io_mocap/description/meshes/v2/Lgamepadbase.STL" />
      </geometry>
      <material
        name="">
        <color
          rgba="0.79216 0.81961 0.93333 1" />
      </material>
    </visual>
  </link>
  <link
    name="Lgamepad">
    <inertial>
      <origin
        xyz="0.11839 0.017119 0.1301"
        rpy="0 0 0" />
      <mass
        value="0.021713" />
      <inertia
        ixx="2.7073E-06"
        ixy="1.5308E-06"
        ixz="-7.3415E-07"
        iyy="3.4923E-06"
        iyz="6.6424E-07"
        izz="4.5015E-06" />
    </inertial>
  </link>
<joint name="Lgamebase_joint" type="fixed" >
	<origin xyz="-0.0097906 -0.039958 0.0172" rpy="0 0 1.6907" />
	<parent link="link_LeftSkeletonBase" />
	<child link="Lgamepadbase" />
</joint>
<joint
	name="Lgamepad_joint"
	type="fixed">
	<origin
			xyz="-0.035948 -0.079502 0.020469"
			rpy="2.8795 -0.79734 -1.0878" />
	<parent
			link="Lgamepadbase" />
	<child
			link="Lgamepad" />
	<axis
    xyz="0 0 0" />
</joint>
</robot>
